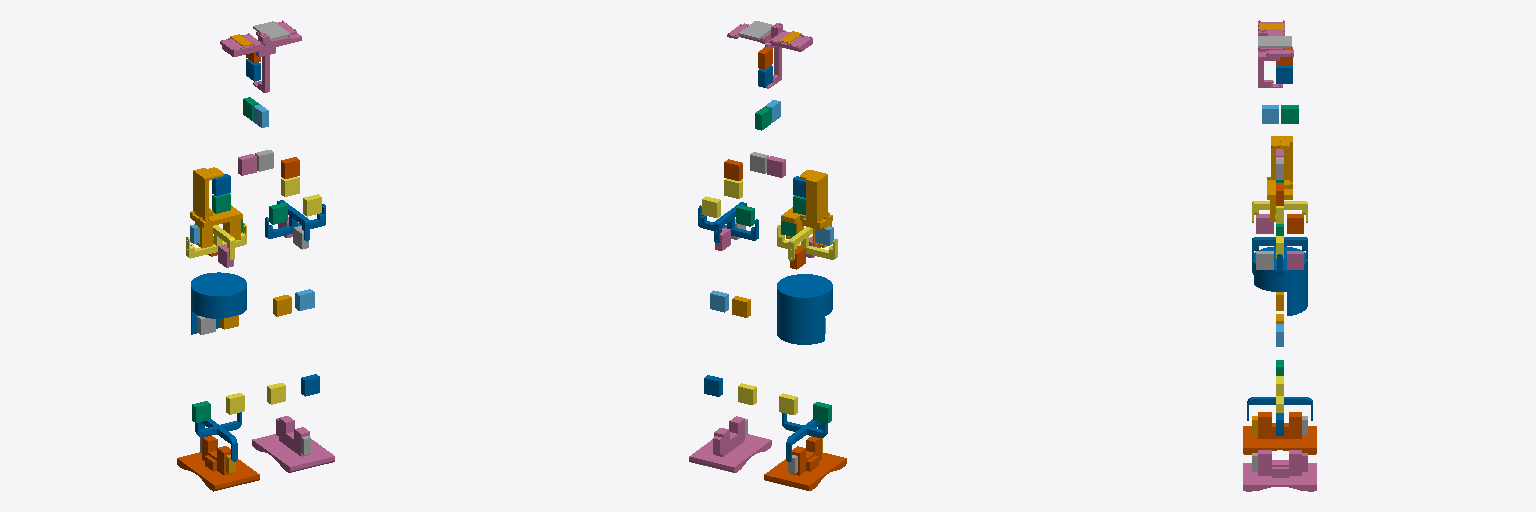
--- Render facts (derived) ---
The picture shows the robot from 3 angles, left to right: view 1: azimuth 30°, elevation 25°; view 2: azimuth 150°, elevation 25°; view 3: azimuth 270°, elevation 25°; orthographic projection.
Robot: tori — 49 links, 48 joints (15 revolute, 33 fixed); root link dummy; default pose: every joint at zero.
Links seen in each view (by area): view 1: thigh_l, foot_r, foot_l, hip_l_z_x, torso_upper, hip_r_x_y, hip_l_x_y, ankle_l; view 2: thigh_l, foot_r, foot_l, hip_l_z_x, torso_upper, hip_r_x_y, hip_l_x_y, ankle_l; view 3: foot_r, foot_l, thigh_l, hip_l_z_x, torso_upper, hip_r_x_y.
Boxes of the visible links, x1,y1,x2,y2 form: thigh_l: [191, 272, 246, 334]; foot_r: [252, 416, 334, 472]; foot_l: [177, 436, 259, 491]; hip_l_z_x: [190, 167, 242, 248]; torso_upper: [220, 20, 301, 92]; hip_r_x_y: [265, 200, 325, 241]; hip_l_x_y: [186, 223, 246, 259]; ankle_l: [195, 412, 241, 461]; thigh_l: [777, 274, 832, 344]; foot_r: [689, 416, 771, 472]; foot_l: [764, 436, 846, 490]; hip_l_z_x: [781, 170, 832, 247]; torso_upper: [727, 23, 812, 88]; hip_r_x_y: [698, 202, 758, 242]; hip_l_x_y: [777, 225, 837, 260]; ankle_l: [782, 413, 827, 461]; foot_r: [1243, 450, 1316, 491]; foot_l: [1243, 412, 1316, 454]; thigh_l: [1252, 246, 1307, 315]; hip_l_z_x: [1267, 136, 1292, 221]; torso_upper: [1258, 20, 1293, 87]; hip_r_x_y: [1252, 237, 1307, 273].
Size in the robot's own frame: 0.3638 by 0.1735 by 1.1 metres.
40 mesh visuals loaded from 19 distinct referenced files (11 binary STL); not drawn: 8 (reference not matched to a file when rendering).

robot.urdf — tori:
<?xml version="1.0" ?>
<!-- =================================================================================== -->
<!-- |    This document was autogenerated by xacro from [local-path]/catkin_ws/src/tori/tori_description/urdf/tori_robot.urdf.xacro | -->
<!-- |    EDITING THIS FILE BY HAND IS NOT RECOMMENDED                                 | -->
<!-- =================================================================================== -->
<robot name="tori">
  <gazebo>
    <plugin filename="libgazebo_ros_control.so" name="ros_control">
      <!--robotNamespace>/</robotNamespace-->
      <!--robotSimType>gazebo_ros_control/DefaultRobotHWSim</robotSimType-->
    </plugin>
    <!--
    <plugin name="gazebo_ros_power_monitor_controller" filename="libgazebo_ros_power_monitor.so">
      <alwaysOn>true</alwaysOn>
      <updateRate>1.0</updateRate>
      <timeout>5</timeout>
      <powerStateTopic>power_state</powerStateTopic>
      <powerStateRate>10.0</powerStateRate>
      <fullChargeCapacity>87.78</fullChargeCapacity>     
      <dischargeRate>-474</dischargeRate>
      <chargeRate>525</chargeRate>
      <dischargeVoltage>15.52</dischargeVoltage>
      <chargeVoltage>16.41</chargeVoltage>
    </plugin>
-->
  </gazebo>
  <plugin filename="libRealSensePlugin.so" name="rs"/>
  <!-- camera_l -->
  <!--
  <gazebo reference="camera_l_link">
    <sensor type="camera" name="camera_l">
      <update_rate>3.0</update_rate>
      <camera name="cam_l">
        <horizontal_fov>1.3962634</horizontal_fov>
        <image>
          <width>800</width>
          <height>800</height>
          <format>R8G8B8</format>
        </image>
        <clip>
          <near>0.02</near>
          <far>300</far>
        </clip>
        <noise>
          <type>gaussian</type>

          <mean>0.0</mean>
          <stddev>0.007</stddev>
        </noise>
      </camera>
      <plugin name="camera_controller" filename="libgazebo_ros_camera.so">
        <alwaysOn>true</alwaysOn>
        <updateRate>0.0</updateRate>
        <cameraName>camera_l</cameraName>
        <imageTopicName>image_raw</imageTopicName>
        <cameraInfoTopicName>camera_info</cameraInfoTopicName>
        <frameName>camera_l_link</frameName>
        <hackBaseline>0.07</hackBaseline>
        <distortionK1>0.0</distortionK1>
        <distortionK2>0.0</distortionK2>
        <distortionK3>0.0</distortionK3>
        <distortionT1>0.0</distortionT1>
        <distortionT2>0.0</distortionT2>
      </plugin>
    </sensor>
  </gazebo>



  <gazebo reference="camera_r_link">
    <sensor type="camera" name="camera_r">
      <update_rate>3.0</update_rate>
      <camera name="cam_r">
        <horizontal_fov>1.3962634</horizontal_fov>
        <image>
          <width>800</width>
          <height>800</height>
          <format>R8G8B8</format>
        </image>
        <clip>
          <near>0.02</near>
          <far>300</far>
        </clip>
        <noise>
          <type>gaussian</type>

          <mean>0.0</mean>
          <stddev>0.007</stddev>
        </noise>
      </camera>
      <plugin name="camera_controller" filename="libgazebo_ros_camera.so">
        <alwaysOn>true</alwaysOn>
        <updateRate>0.0</updateRate>
        <cameraName>camera_r</cameraName>
        <imageTopicName>image_raw</imageTopicName>
        <cameraInfoTopicName>camera_info</cameraInfoTopicName>
        <frameName>camera_r_link</frameName>
        <hackBaseline>0.07</hackBaseline>
        <distortionK1>0.0</distortionK1>
        <distortionK2>0.0</distortionK2>
        <distortionK3>0.0</distortionK3>
        <distortionT1>0.0</distortionT1>
        <distortionT2>0.0</distortionT2>
      </plugin>
    </sensor>
  </gazebo>-->
  <!--
  <plugin name="camera_plugin" filename="libgazebo_ros_openni_kinect.so">
    <baseline>0.2</baseline>
    <alwaysOn>true</alwaysOn>

    <updateRate>0.0</updateRate>
    <cameraName>camera_ir</cameraName>
    <imageTopicName>/camera/color/image_raw</imageTopicName>
    <cameraInfoTopicName>/camera/color/camera_info</cameraInfoTopicName>
    <depthImageTopicName>/camera/depth/image_raw</depthImageTopicName>
    <depthImageCameraInfoTopicName>/camera/depth/camera_info</depthImageCameraInfoTopicName>
    <pointCloudTopicName>/camera/depth/points</pointCloudTopicName>
    <frameName>camera_l_link</frameName>
    <pointCloudCutoff>0.5</pointCloudCutoff>
    <pointCloudCutoffMax>3.0</pointCloudCutoffMax>
    <distortionK1>0</distortionK1>
    <distortionK2>0</distortionK2>
    <distortionK3>0</distortionK3>
    <distortionT1>0</distortionT1>
    <distortionT2>0</distortionT2>
    <CxPrime>0</CxPrime>
    <Cx>0</Cx>
    <Cy>0</Cy>
    <focalLength>0</focalLength>
    <hackBaseline>0</hackBaseline>
  </plugin>
-->
  <!-- stereo plugin that produces a raw_stereo message
  -->
  <!--
  <map name="sensor" flag="gazebo">
    <verbatim key="camera_controller">
      <controller:ros_stereo_camera name="camera_controller" plugin="libros_stereo_camera.so">
        <alwaysOn>true</alwaysOn>
        <updateRate>20.0</updateRate>
        <leftCamera>camera_l_link</leftCamera>
        <rightCamera>camera_r_link</rightCamera>
        <topicName>${name}/raw_stereo</topicName>
        <frameName>${name}_optical_frame</frameName>
        <CxPrime>320</CxPrime>
        <Cx>320</Cx>
        <Cy>240</Cy>
        <focal_length>320</focal_length> -->
  <!-- image_width / (2*tan(hfov_radian /2)) -->
  <!--<distortion_k1>0</distortion_k1>
        <distortion_k2>0</distortion_k2>
        <distortion_k3>0</distortion_k3>
        <distortion_t1>0</distortion_t1>
        <distortion_t2>0</distortion_t2>
        <baseline>${stereo_dy}</baseline>-->
  <!-- home pos. of robot has +x forward, +y left -->
  <!--<interface:stereocamera name="${name}_iface" />
      </controller:ros_stereo_camera>
    </verbatim>
  </map>-->
  <!-- Probably needed!<xacro:include filename="$(find tori_description)/urdf/realsense_camera/model.sdf" />-->
  <!--NEEDED! <xacro:include filename="$(find realsense2_description)/urdf/_d415.urdf.xacro"/>-->
  <!--<xacro:macro name="rs_cam_stuff" params="parent">
    <link name="cam_link">
      <gazebo reference="sensor_d415_link"/>
    </link>
    <joint name="cam_joint" type="fixed">
      <parent link="${parent}"/>
      <child link="sensor_d415_link"/>
      <origin xyz="0 0 1.5"/>
    </joint>
  </xacro:macro>-->
  <!--<xacro:macro name="rs_model_stuff" params="">
    <link name="rs_model_link">
      <gazebo reference="realsense_camera"/>
    </link>
    <joint name="rs_model_joint">
      <parent link="torso_upper"/>
      <child link="rs_model_link"/>
      <origin xyz="0 0 1.5"/>
    </joint>
  </xacro:macro>-->
  <!--<gazebo reference="torso_upper"> this -->
  <!--<sensor type="depth" name="camera1">-->
  <!--<plugin name="gazebo_realsense" filename="libRealSensePlugin.so">
        <robotNamespace>/</robotNamespace>
      </plugin>-->
  <!-- from here<plugin name="realsense_gazebo_plugin" filename="realsense_gazebo_plugin.so">
        <robotNamespace>/</robotNamespace>
      </plugin> to here-->
  <!--</sensor>-->
  <!--</gazebo> this-->
  <!-- -.18 -->
  <!--.1-->
  <!-- ~7.0V-->
  <!--<link name="world"/>
     <joint name="world_joint" type="fixed">
       <parent link="world"/>
       <child link="dummy"/>
     </joint>-->
  <link name="dummy">
   </link>
  <link name="pelvis">
    <!-- formerly base_link-->
    <visual>
      <origin rpy="0 0 0" xyz="0 0 0"/>
      <geometry>
        <mesh filename="package://tori_description/meshes/pelvis.stl" scale=".001 .001 .001"/>
      </geometry>
      <material name="LightGrey">
        <color rgba="0.7 0.7 0.7 1.0"/>
      </material>
    </visual>
    <collision>
      <origin rpy="0 0 0" xyz="0 0 0"/>
      <geometry>
        <mesh filename="package://tori_description/meshes/pelvis.stl" scale=".001 .001 .001"/>
        --&gt;
        
      </geometry>
    </collision>
    <inertial>
      <origin rpy="0 0 0" xyz="-.000062107 -.002467480 .000540235"/>
      <mass value="0.186"/>
      <inertia ixx="0.000231550208" ixy="3.199811875e-07" ixz="-3.6778775e-07" iyy="0.000993170496" iyz="2.7907164e-05" izz="0.000822"/>
    </inertial>
  </link>
  <joint name="hip_r_z_servo_0_joint" type="fixed">
    <parent link="pelvis"/>
    <child link="hip_r_z_servo_0"/>
    <origin rpy="0 0 1.5707963267948966" xyz="-.091 0 -.027"/>
  </joint>
  <link name="hip_r_z_servo_0">
    <visual>
      <origin rpy="0 0 0" xyz="0 0 0"/>
      <geometry>
        <mesh filename="package://tori_description/meshes/servo.stl" scale=".001 .001 .001"/>
      </geometry>
      <material name="Black"/>
      <color rgba="0.0 0.0 0.0 0.0"/>
    </visual>
    <collision>
      <origin rpy="0 0 0" xyz="0 0 0"/>
      <geometry>
        <mesh filename="package://tori_description/meshes/servo.stl" scale=".001 .001 .001"/>
        --&gt;
        
      </geometry>
    </collision>
    <inertial>
      <origin rpy="0 0 0" xyz="0 0 0"/>
      <mass value="0.07"/>
      <inertia ixx="8.106666e-06" ixy="0.0" ixz="0.0" iyy="4.967866e-06" iyz="0.0" izz="4.967866e-06"/>
    </inertial>
  </link>
  <joint name="hip_r_z_servo_1_joint" type="fixed">
    <!--TODO: Technically wrong leg, but it shouldn't actually matter (also check other hip_z servos)-->
    <parent link="pelvis"/>
    <child link="hip_r_z_servo_1"/>
    <origin rpy="0 0 1.5707963267948966" xyz=".091 0 -.027"/>
  </joint>
  <link name="hip_r_z_servo_1">
    <visual>
      <origin rpy="0 0 0" xyz="0 0 0"/>
      <geometry>
        <mesh filename="package://tori_description/meshes/servo.stl" scale=".001 .001 .001"/>
      </geometry>
      <material name="Black"/>
      <color rgba="0.0 0.0 0.0 0.0"/>
    </visual>
    <collision>
      <origin rpy="0 0 0" xyz="0 0 0"/>
      <geometry>
        <mesh filename="package://tori_description/meshes/servo.stl" scale=".001 .001 .001"/>
        --&gt;
        
      </geometry>
    </collision>
    <inertial>
      <origin rpy="0 0 0" xyz="0 0 0"/>
      <mass value="0.07"/>
      <inertia ixx="8.106666e-06" ixy="0.0" ixz="0.0" iyy="4.967866e-06" iyz="0.0" izz="4.967866e-06"/>
    </inertial>
  </link>
  <joint name="hip_l_z_servo_0_joint" type="fixed">
    <parent link="pelvis"/>
    <child link="hip_l_z_servo_0"/>
    <origin rpy="0 0 1.5707963267948966" xyz="-.091 0 .018"/>
  </joint>
  <link name="hip_l_z_servo_0">
    <visual>
      <origin rpy="0 0 0" xyz="0 0 0"/>
      <geometry>
        <mesh filename="package://tori_description/meshes/servo.stl" scale=".001 .001 .001"/>
      </geometry>
      <material name="Black"/>
      <color rgba="0.0 0.0 0.0 0.0"/>
    </visual>
    <collision>
      <origin rpy="0 0 0" xyz="0 0 0"/>
      <geometry>
        <mesh filename="package://tori_description/meshes/servo.stl" scale=".001 .001 .001"/>
        --&gt;
        
      </geometry>
    </collision>
    <inertial>
      <origin rpy="0 0 0" xyz="0 0 0"/>
      <mass value="0.07"/>
      <inertia ixx="8.106666e-06" ixy="0.0" ixz="0.0" iyy="4.967866e-06" iyz="0.0" izz="4.967866e-06"/>
    </inertial>
  </link>
  <joint name="hip_l_z_servo_1_joint" type="fixed">
    <parent link="pelvis"/>
    <child link="hip_l_z_servo_1"/>
    <origin rpy="0 0 1.5707963267948966" xyz=".091 0 .018"/>
  </joint>
  <link name="hip_l_z_servo_1">
    <visual>
      <origin rpy="0 0 0" xyz="0 0 0"/>
      <geometry>
        <mesh filename="package://tori_description/meshes/servo.stl" scale=".001 .001 .001"/>
      </geometry>
      <material name="Black"/>
      <color rgba="0.0 0.0 0.0 0.0"/>
    </visual>
    <collision>
      <origin rpy="0 0 0" xyz="0 0 0"/>
      <geometry>
        <mesh filename="package://tori_description/meshes/servo.stl" scale=".001 .001 .001"/>
        --&gt;
        
      </geometry>
    </collision>
    <inertial>
      <origin rpy="0 0 0" xyz="0 0 0"/>
      <mass value="0.07"/>
      <inertia ixx="8.106666e-06" ixy="0.0" ixz="0.0" iyy="4.967866e-06" iyz="0.0" izz="4.967866e-06"/>
    </inertial>
  </link>
  <joint name="spine_x_servo_0_joint" type="fixed">
    <parent link="pelvis"/>
    <child link="spine_x_servo_0"/>
    <origin rpy="0 0 1.5707963267948966" xyz="-.023 0 .053"/>
  </joint>
  <link name="spine_x_servo_0">
    <visual>
      <origin rpy="0 0 0" xyz="0 0 0"/>
      <geometry>
        <mesh filename="package://tori_description/meshes/servo.stl" scale=".001 .001 .001"/>
      </geometry>
      <material name="Black"/>
      <color rgba="0.0 0.0 0.0 0.0"/>
    </visual>
    <collision>
      <origin rpy="0 0 0" xyz="0 0 0"/>
      <geometry>
        <mesh filename="package://tori_description/meshes/servo.stl" scale=".001 .001 .001"/>
        --&gt;
        
      </geometry>
    </collision>
    <inertial>
      <origin rpy="0 0 0" xyz="0 0 0"/>
      <mass value="0.068"/>
      <inertia ixx="8.106666e-06" ixy="0.0" ixz="0.0" iyy="4.967866e-06" iyz="0.0" izz="4.967866e-06"/>
    </inertial>
  </link>
  <joint name="spine_x_servo_1_joint" type="fixed">
    <parent link="pelvis"/>
    <child link="spine_x_servo_1"/>
    <origin rpy="0 0 1.5707963267948966" xyz=".023 0 .053"/>
  </joint>
  <link name="spine_x_servo_1">
    <collision>
      <origin rpy="0 0 0" xyz="0 0 0"/>
      <geometry>
        <mesh filename="package://tori_description/meshes/servo.stl" scale=".001 .001 .001"/>
        --&gt;
        
      </geometry>
    </collision>
    <visual>
      <origin rpy="0 0 0" xyz="0 0 0"/>
      <geometry>
        <mesh filename="package://tori_description/meshes/servo.stl" scale=".001 .001 .001"/>
      </geometry>
      <material name="Black"/>
      <color rgba="0.0 0.0 0.0 0.0"/>
    </visual>
    <inertial>
      <origin rpy="0 0 0" xyz="0 0 0"/>
      <mass value="0.068"/>
      <inertia ixx="8.106666e-06" ixy="0.0" ixz="0.0" iyy="4.967866e-06" iyz="0.0" izz="4.967866e-06"/>
    </inertial>
  </link>
  <!--<xacro:rs_cam_stuff parent="torso_upper"/>-->
  <!--from here <xacro:sensor_d415 parent="torso_upper" name="camera">
      <origin xyz="0 0 .2" rpy="0 0 ${PI/2}"/>

    </xacro:sensor_d415> to here-->
  <!--<xacro:r parent="torso_upper">
      <origin xyz="0 0 .2" rpy="0 0 ${PI/2}"/>
    </xacro:sensor_d415>-->
  <!--name=camera  use_nominal_extrinsics:=false/>-->
  <!-- KINECT -->
  <!--
    <joint name="kinect_joint" type="fixed">
      <parent link="torso_upper"/>
      <child link="kinect_link"/>
      <origin xyz="0 0 .2" />
    </joint>
    <link name="kinect_link">
      <visual>
        <geometry>
          <box size="0.064 0.121 0.0381" />
        </geometry>
        <material name="Blue" />
      </visual>
      <inertial>
          <mass value="0.1" />
          <origin xyz="0 0 0" />
          <inertia ixx="0.01" ixy="0.0" ixz="0.0"
                   iyy="0.01" iyz="0.0"
                   izz="0.01" />
      </inertial>
    </link>

    <joint name="kinect_depth_joint" type="fixed">
      <origin xyz="0 0.028 0" rpy="0 0 0" />
      <parent link="kinect_link" />
      <child link="kinect_depth_frame" />
    </joint>

    <link name="kinect_depth_frame">
      <inertial>
          <mass value="0.0001" />
          <origin xyz="0 0 0" />
          <inertia ixx="0.0001" ixy="0.0" ixz="0.0"
                   iyy="0.0001" iyz="0.0"
                   izz="0.0001" />
      </inertial>
    </link>

    <joint name="depth_optical_joint" type="fixed">
      <origin xyz="0 0 0" rpy="${-PI/2} 0 ${-PI/2}" />
      <parent link="kinect_depth_frame" />
      <child link="kinect_depth_optical_frame" />
    </joint>

    <link name="kinect_depth_optical_frame">
      <inertial>
          <mass value="0.0001" />
          <origin xyz="0 0 0" />
          <inertia ixx="0.0001" ixy="0.0" ixz="0.0"
                   iyy="0.0001" iyz="0.0"
                   izz="0.0001" />
      </inertial>
    </link>  -->
  <!-- TORSO -->
  <joint name="dummy_joint" type="fixed">
    <parent link="dummy"/>
    <child link="pelvis"/>
    <origin rpy="0 0 0" xyz="0 0 0.7300000000000001"/>
    <!--<origin xyz="0 0 0" rpy="0 0 0"/>-->
  </joint>
  <joint name="spine_x" type="revolute">
    <parent link="pelvis"/>
    <child link="torso_lower"/>
    <origin rpy="0 0 0" xyz="0 0 .07"/>
    <axis xyz="1 0 0"/>
    <dynamics damping="0" friction="0"/>
    <limit effort="3.92" lower="-0.22" upper="0.22" velocity="1.97"/>
  </joint>
  <link name="torso_lower">
    <visual>
      <origin rpy="0 0 0" xyz="0 0 0"/>
      <geometry>
        <mesh filename="package://tori_description/meshes/spine_0.stl" scale=".001 .001 .001"/>
      </geometry>
      <material name="Black"/>
      <color rgba="0.0 0.0 0.0 0.0"/>
    </visual>
    <collision>
      <origin rpy="0 0 0" xyz="0 0 0"/>
      <geometry>
        <mesh filename="package://tori_description/meshes/spine_0.stl" scale=".001 .001 .001"/>
        --&gt;
        
      </geometry>
    </collision>
    <inertial>
      <origin rpy="0 0 0" xyz="-.003544949 -.000000002 .071470787"/>
      <mass value="0.084"/>
      <inertia ixx="0.000124387136" ixy="1.646853e-12" ixz="1.1473532e-05" iyy="0.000166922096" iyz="-1.89582e-11" izz="8.310168e-05"/>
    </inertial>
  </link>
  <joint name="spine_y_servo_0_joint" type="fixed">
    <parent link="torso_lower"/>
    <child link="spine_y_servo_0"/>
    <origin rpy="0 0 0" xyz="0 -.023 .110"/>
  </joint>
  <link name="spine_y_servo_0">
    <visual>
      <origin rpy="0 0 0" xyz="0 0 0"/>
      <geometry>
        <mesh filename="package://tori_description/meshes/servo.stl" scale=".001 .001 .001"/>
      </geometry>
      <material name="Black"/>
      <color rgba="0.0 0.0 0.0 0.0"/>
    </visual>
    <collision>
      <origin rpy="0 0 0" xyz="0 0 0"/>
      <geometry>
        <mesh filename="package://tori_description/meshes/servo.stl" scale=".001 .001 .001"/>
        --&gt;
        
      </geometry>
    </collision>
    <inertial>
      <origin rpy="0 0 0" xyz="0 0 0"/>
      <mass value="0.07"/>
      <inertia ixx="8.106666e-06" ixy="0.0" ixz="0.0" iyy="4.967866e-06" iyz="0.0" izz="4.967866e-06"/>
    </inertial>
  </link>
  <joint name="spine_y_servo_1_joint" type="fixed">
    <parent link="torso_lower"/>
    <child link="spine_y_servo_1"/>
    <origin rpy="0 0 0" xyz="0 .023 .110"/>
  </joint>
  <link name="spine_y_servo_1">
    <collision>
      <origin rpy="0 0 0" xyz="0 0 0"/>
      <geometry>
        <mesh filename="package://tori_description/meshes/servo.stl" scale=".001 .001 .001"/>
        --&gt;
        
      </geometry>
    </collision>
    <visual>
      <origin rpy="0 0 0" xyz="0 0 0"/>
      <geometry>
        <mesh filename="package://tori_description/meshes/servo.stl" scale=".001 .001 .001"/>
      </geometry>
      <material name="Black"/>
      <color rgba="0.0 0.0 0.0 0.0"/>
    </visual>
    <inertial>
      <origin rpy="0 0 0" xyz="0 0 0"/>
      <mass value="0.07"/>
      <inertia ixx="8.106666e-06" ixy="0.0" ixz="0.0" iyy="4.967866e-06" iyz="0.0" izz="4.967866e-06"/>
    </inertial>
  </link>
  <joint name="spine_y" type="revolute">
    <parent link="torso_lower"/>
    <child link="torso_mid"/>
    <origin rpy="0 0 0" xyz="0 0 0.12"/>
    <axis xyz="0 1 0"/>
    <dynamics damping="0" friction="0"/>
    <limit effort="3.92" lower="-0.22" upper="0.22" velocity="1.75"/>
  </joint>
  <link name="torso_mid">
    <collision>
      <origin rpy="0 0 0" xyz="0 0 0"/>
      <geometry>
        <mesh filename="package://tori_description/meshes/spine_1.stl" scale=".001 .001 .001"/>
        --&gt;
        
      </geometry>
    </collision>
    <visual>
      <origin rpy="0 0 0" xyz="0 0 0"/>
      <geometry>
        <mesh filename="package://tori_description/meshes/spine_1.stl" scale=".001 .001 .001"/>
      </geometry>
      <material name="Black"/>
      <color rgba="0.0 0.0 0.0 0.0"/>
    </visual>
    <inertial>
      <origin rpy="0 0 0" xyz="-.006629199 .013335866 .076523689"/>
      <mass value="0.075"/>
      <inertia ixx="0.00022848204799999998" ixy="7.6979135e-06" ixz="1.2358411e-05" iyy="0.0001590548" iyz="-2.623546e-05" izz="8.7150248e-05"/>
    </inertial>
  </link>
  <joint name="spine_z_servo_0_joint" type="fixed">
    <parent link="torso_mid"/>
    <child link="spine_z_servo_0"/>
    <origin rpy="0 0 0" xyz="0 .011 .094"/>
  </joint>
  <link name="spine_z_servo_0">
    <visual>
      <origin rpy="0 0 0" xyz="0 0 0"/>
      <geometry>
        <mesh filename="package://tori_description/meshes/servo.stl" scale=".001 .001 .001"/>
      </geometry>
      <material name="Black"/>
      <color rgba="0.0 0.0 0.0 0.0"/>
    </visual>
    <collision>
      <origin rpy="0 0 0" xyz="0 0 0"/>
      <geometry>
        <mesh filename="package://tori_description/meshes/servo.stl" scale=".001 .001 .001"/>
        --&gt;
        
      </geometry>
    </collision>
    <inertial>
      <origin rpy="0 0 0" xyz="0 0 0"/>
      <mass value="0.068"/>
      <inertia ixx="8.106666e-06" ixy="0.0" ixz="0.0" iyy="4.967866e-06" iyz="0.0" izz="4.967866e-06"/>
    </inertial>
  </link>
  <joint name="spine_z_servo_1_joint" type="fixed">
    <parent link="torso_mid"/>
    <child link="spine_z_servo_1"/>
    <origin rpy="0 0 0" xyz="0 .011 .140"/>
  </joint>
  <link name="spine_z_servo_1">
    <visual>
      <origin rpy="0 0 0" xyz="0 0 0"/>
      <geometry>
        <mesh filename="package://tori_description/meshes/servo.stl" scale=".001 .001 .001"/>
      </geometry>
      <material name="Black"/>
      <color rgba="0.0 0.0 0.0 0.0"/>
    </visual>
    <collision>
      <origin rpy="0 0 0" xyz="0 0 0"/>
      <geometry>
        <mesh filename="package://tori_description/meshes/servo.stl" scale=".001 .001 .001"/>
        --&gt;
        
      </geometry>
    </collision>
    <inertial>
      <origin rpy="0 0 0" xyz="0 0 0"/>
      <mass value="0.068"/>
      <inertia ixx="8.106666e-06" ixy="0.0" ixz="0.0" iyy="4.967866e-06" iyz="0.0" izz="4.967866e-06"/>
    </inertial>
  </link>
  <joint name="spine_z" type="revolute">
    <parent link="torso_mid"/>
    <child link="torso_upper"/>
    <origin rpy="0 0 0" xyz="0 0 0.116"/>
    <axis xyz="0 0 1"/>
    <dynamics damping="0" friction="0"/>
    <limit effort="3.92" lower="-0.22" upper="0.22" velocity="1.97"/>
  </joint>
  <link name="torso_upper">
    <visual>
      <origin rpy="0 0 0" xyz="0 0 0"/>
      <geometry>
        <mesh filename="package://tori_description/meshes/spine_2.stl" scale=".001 .001 .001"/>
      </geometry>
      <material name="Black"/>
      <color rgba="0.0 0.0 0.0 0.0"/>
    </visual>
    <collision>
      <origin rpy="0 0 0" xyz="0 0 0"/>
      <geometry>
        <mesh filename="package://tori_description/meshes/spine_2.stl" scale=".001 .001 .001"/>
        --&gt;
        
      </geometry>
    </collision>
    <inertial>
      <origin rpy="0 0 0" xyz=".001071245 -.026289972 .053334553"/>
      <mass value="0.125"/>
      <inertia ixx="0.000225709312" ixy="-1.6628644e-05" ixz="-1.4617055e-06" iyy="0.000609968576" iyz="-2.6089856e-05" izz="0.00051601312"/>
    </inertial>
  </link>
  <joint name="rpi_joint" type="fixed">
    <parent link="torso_upper"/>
    <child link="rpi"/>
    <origin rpy="1.5707963267948966 0 1.5707963267948966" xyz=".035 -.012 .077"/>
  </joint>
  <link name="rpi">
    <visual>
      <origin rpy="0 0 0" xyz="0 0 0"/>
      <geometry>
        <mesh filename="package://tori_description/meshes/rpi.stl" scale=".001 .001 .001"/>
      </geometry>
      <material name="Black"/>
      <color rgba="0.0 0.0 0.0 0.0"/>
    </visual>
    <collision>
      <origin rpy="0 0 0" xyz="0 0 0"/>
      <geometry>
        <mesh filename="package://tori_description/meshes/rpi.stl" scale=".001 .001 .001"/>
        --&gt;
        
      </geometry>
    </collision>
    <inertial>
      <origin rpy="0 0 0" xyz="0 0 0"/>
      <mass value="0.002"/>
      <inertia ixx="5.5916665e-06" ixy="0.0" ixz="0.0" iyy="1.7279166e-05" iyz="0.0" izz="1.1779167e-05"/>
    </inertial>
  </link>
  <joint name="pca_joint" type="fixed">
    <parent link="torso_upper"/>
    <child link="pca"/>
    <origin rpy="1.5707963267948966 0 1.5707963267948966" xyz="-.050 -.020 .076"/>
  </joint>
  <link name="pca">
    <visual>
      <origin rpy="0 0 0" xyz="0 0 0"/>
      <geometry>
        <mesh filename="package://tori_description/meshes/pca.stl" scale=".001 .001 .001"/>
      </geometry>
      <material name="Black"/>
      <color rgba="0.0 0.0 0.0 0.0"/>
    </visual>
    <collision>
      <origin rpy="0 0 0" xyz="0 0 0"/>
      <geometry>
        <mesh filename="package://tori_description/meshes/pca.stl" scale=".001 .001 .001"/>
        --&gt;
          
      </geometry>
    </collision>
    <inertial>
      <origin rpy="0 0 0" xyz="0 0 0"/>
      <mass value="0.011"/>
      <inertia ixx="1.5725e-07" ixy="0.0" ixz="0.0" iyy="1.05625e-06" iyz="0.0" izz="9.01e-07"/>
    </inertial>
  </link>
  <!-- LEFT ARM -->
  <!--
        <joint name="${prefix}shoulder_l_x" type="revolute">
          <parent link="${prefix}torso_upper" />
          <child link = "${prefix}shoulder_l0" />
          <origin xyz="${-width_torso_upper/2} 0 ${height_torso_upper - height_arm/2}" rpy="0 0 0"/>
          <axis xyz="1 0 0"/>
          <dynamics damping="${damping}" friction="${friction}"/>
          <limit lower="${lower_limit_shoulder_x}" upper="${upper_limit_shoulder_x}" effort="${effort_shoulder_x}" velocity="3"/>
        </joint>
        <link name="${prefix}shoulder_l0">
          <collision>
            <origin xyz="${-height_placeholder/2 - width_gap_shoulder_0} 0 0" rpy="0 ${-PI/2} 0"/>
            <geometry>
              <cylinder length="${height_placeholder}" radius="${radius_placeholder}"/>
            </geometry>
          </collision>
          <visual>
            <origin xyz="${-height_placeholder/2 - width_gap_shoulder_0} 0 0" rpy="0 ${-PI/2} 0"/>
            <geometry>
              <cylinder length="${height_placeholder}" radius="${radius_placeholder}"/>
            </geometry>
            <material name="Black"/>
              <color rgba="${Black}"/>
          </visual>
        <xacro:box_inertial height="${height_placeholder}" width="${radius_placeholder*2}" depth="${radius_placeholder*2}" mass="${mass_placeholder}" pos="${-height_placeholder/2 - width_gap_shoulder_0} 0 0" ang="0 ${-PI/2} 0">
        </xacro:box_inertial>
        </link>

        <joint name="${prefix}shoulder_l_y" type="revolute">
          <parent link="${prefix}shoulder_l0" />
          <child link = "${prefix}shoulder_l1" />
          <origin xyz="${-height_placeholder - width_gap_shoulder_0} 0 0" rpy="0 0 0"/>
          <axis xyz="0 1 0"/>
          <dynamics damping="${damping}" friction="${friction}"/>
          <limit lower="${lower_limit_shoulder_y}" upper="${upper_limit_shoulder_y}" effort="${effort_shoulder_y}" velocity="3"/>
        </joint>
        <link name="${prefix}shoulder_l1">
          <collision>
            <origin xyz="${-height_placeholder/2 - width_gap_shoulder_1} 0 0" rpy="0 ${-PI/2} 0"/>
            <geometry>
              <cylinder length="${height_placeholder}" radius="${radius_placeholder}"/>
            </geometry>
          </collision>
          <visual>
            <origin xyz="${-height_placeholder/2 - width_gap_shoulder_1} 0 0" rpy="0 ${-PI/2} 0"/>
            <geometry>
              <cylinder length="${height_placeholder}" radius="${radius_placeholder}"/>
            </geometry>
            <material name="Black"/>
              <color rgba="${Black}"/>
          </visual>
        <xacro:box_inertial height="${height_placeholder}" width="${radius_placeholder*2}" depth="${radius_placeholder*2}" mass="${mass_placeholder}" pos="${-height_placeholder/2 - width_gap_shoulder_1} 0 0" ang="0 ${-PI/2} 0">
        </xacro:box_inertial>
        </link>

        <joint name="${prefix}shoulder_l_z" type="revolute">
          <parent link="${prefix}shoulder_l1" />
          <child link = "${prefix}arm_l" />
          <origin xyz="${-height_placeholder - width_gap_shoulder_1} 0 0" rpy="0 0 0"/>
          <axis xyz="0 0 1"/>
          <dynamics damping="${damping}" friction="${friction}"/>
          <limit lower="${lower_limit_shoulder_z}" upper="${upper_limit_shoulder_z}" effort="${effort_shoulder_z}" velocity="3"/>
        </joint>

        <link name="arm_l">
          <collision>
            <origin xyz="${-width_arm/2 - width_gap_shoulder_2} 0 0" rpy="0 ${-PI/2} 0"/>
            <geometry>
              <cylinder length="${width_arm}" radius="${depth_arm/2}"/>
            </geometry>
          </collision>
          <visual>
            <origin xyz="${-width_arm/2 - width_gap_shoulder_2} 0 0" rpy="0 ${-PI/2} 0"/>
            <geometry>
              <cylinder length="${width_arm}" radius="${depth_arm/2}"/>
            </geometry>
            <material name="Black"/>
              <color rgba="${Black}"/>
          </visual>
        <xacro:box_inertial height="${width_arm}" width="${depth_arm}" depth="${depth_arm}" mass="${mass_arm}" pos="${-width_arm/2 - width_gap_shoulder_2} 0 0" ang="0 ${-PI/2} 0">
        </xacro:box_inertial>
        </link>

        <joint name="${prefix}elbow_l_z" type="revolute">
          <parent link="${prefix}arm_l" />
          <child link = "${prefix}forearm_l" />
          <origin xyz="${-width_arm - width_gap_elbow_0} 0 0" rpy="0 0 0"/>
          <axis xyz="0 0 1"/>
          <dynamics damping="${damping}" friction="${friction}"/>
          <limit lower="${lower_limit_elbow_z}" upper="${upper_limit_elbow_z}" effort="${effort_constant}" velocity="3"/>
        </joint>

        <link name="${prefix}forearm_l">
          <collision>
            <origin xyz="${-height_placeholder/2 - width_gap_elbow_0} 0 0" rpy="0 ${-PI/2} 0"/>
            <geometry>
              <cylinder length="${height_placeholder}" radius="${radius_placeholder}"/>
            </geometry>
          </collision>
          <visual>
            <origin xyz="${-height_placeholder/2 - width_gap_elbow_0} 0 0" rpy="0 ${-PI/2} 0"/>
            <geometry>
              <cylinder length="${height_placeholder}" radius="${radius_placeholder}"/>
            </geometry>
            <material name="Black"/>
              <color rgba="${Black}"/>
          </visual>
        <xacro:box_inertial height="${height_placeholder}" width="${radius_placeholder*2}" depth="${radius_placeholder*2}" mass="${mass_placeholder}" pos="${-height_placeholder/2 - width_gap_elbow_0} 0 0" ang="0 ${-PI/2} 0">
        </xacro:box_inertial>


        </link>

        <joint name="${prefix}elbow_l_x" type="revolute">
          <parent link="${prefix}forearm_l" />
          <child link = "${prefix}wrist_l0" />
          <origin xyz="${-height_placeholder - width_gap_elbow_0} 0 0" rpy="0 0 0"/>
          <axis xyz="1 0 0"/>
          <dynamics damping="${damping}" friction="${friction}"/>
          <limit lower="${lower_limit_elbow_x}" upper="${upper_limit_elbow_x}" effort="${effort_constant}" velocity="3"/>
        </joint>

        <link name="${prefix}wrist_l0">
          <collision>
            <origin xyz="${-width_forearm/2 - width_gap_elbow_1} 0 0" rpy="0 ${-PI/2} 0"/>
            <geometry>
              <cylinder length="${width_forearm}" radius="${depth_forearm/2}"/>
            </geometry>
          </collision>
          <visual>
            <origin xyz="${-width_forearm/2 - width_gap_elbow_1} 0 0" rpy="0 ${-PI/2} 0"/>
            <geometry>
              <cylinder length="${width_forearm}" radius="${depth_forearm/2}"/>
            </geometry>
            <material name="Black"/>
              <color rgba="${Black}"/>
          </visual>

        <xacro:box_inertial height="${width_forearm}" width="${depth_forearm}" depth="${depth_forearm}" mass="${mass_forearm}" pos="${-width_forearm/2 - width_gap_elbow_1} 0 0" ang="0 ${-PI/2} 0">
        </xacro:box_inertial>

        </link>

        <joint name="${prefix}wrist_l_z" type="revolute">
          <parent link="${prefix}wrist_l0" />
          <child link = "${prefix}wrist_l1" />
          <origin xyz="${-width_forearm - width_gap_wrist_0} 0 0" rpy="0 0 0"/>
          <axis xyz="0 0 1"/>
          <dynamics damping="${damping}" friction="${friction}"/>
          <limit lower="${lower_limit_wrist_z}" upper="${upper_limit_wrist_z}" effort="${effort_wrist_z}" velocity="3"/>
        </joint>

        <link name="${prefix}wrist_l1">
          <collision>
            <origin xyz="${-height_placeholder/2 - width_gap_wrist_0} 0 0" rpy="0 ${-PI/2} 0"/>
            <geometry>
              <cylinder length="${height_placeholder}" radius="${radius_placeholder}"/>
            </geometry>
          </collision>
          <visual>
            <origin xyz="${-height_placeholder/2 - width_gap_wrist_0} 0 0" rpy="0 ${-PI/2} 0"/>
            <geometry>
              <cylinder length="${height_placeholder}" radius="${radius_placeholder}"/>
            </geometry>
            <material name="Black"/>
              <color rgba="${Black}"/>
          </visual>
        <xacro:box_inertial height="${height_placeholder}" width="${radius_placeholder*2}" depth="${radius_placeholder*2}" mass="${mass_placeholder}" pos="${-height_placeholder/2 - width_gap_elbow_0} 0 0" ang="0 ${-PI/2} 0">
        </xacro:box_inertial>
        </link>

        <joint name="${prefix}wrist_l_y" type="revolute">
          <parent link="${prefix}wrist_l1" />
          <child link = "${prefix}hand_l" />
          <origin xyz="${-height_placeholder - width_gap_wrist_0} 0 0" rpy="0 0 0"/>
          <axis xyz="0 1 0"/>
          <dynamics damping="${damping}" friction="${friction}"/>
          <limit lower="${lower_limit_wrist_y}" upper="${upper_limit_wrist_y}" effort="${effort_wrist_y}" velocity="3"/>
        </joint>

        <link name="${prefix}hand_l">
        <collision>
          <origin xyz="${-width_palm/2 - width_gap_wrist_0} 0 0" rpy="0 0 0"/>
          <geometry>
    \t<box size="${width_palm} ${depth_palm} ${height_palm}"/>
          </geometry>
        </collision>
        <visual>
          <origin xyz="${-width_palm/2 - width_gap_wrist_0} 0 0" rpy="0 0 0"/>
          <geometry>
    \t<box size="${width_palm} ${depth_palm} ${height_palm}"/>
          </geometry>
          <material name="Black"/>
              <color rgba="${Black}"/>
        </visual>
          <xacro:box_inertial height="${height_palm}" width="${width_palm}" depth="${depth_palm}" mass="${mass_hand}" pos="${-width_palm/2 - width_gap_wrist_0} 0 0" ang="0 0 0">
          </xacro:box_inertial>
        </link>-->
  <!-- RIGHT ARM -->
  <!--
        <joint name="${prefix}shoulder_r_x" type="revolute">
          <parent link="${prefix}torso_upper" />
          <child link = "${prefix}shoulder_r0" />
          <origin xyz="${width_torso_upper/2} 0 ${height_torso_upper - height_arm/2}" rpy="0 0 0"/>
          <axis xyz="1 0 0"/>
          <dynamics damping="${damping}" friction="${friction}"/>
          <limit lower="${lower_limit_shoulder_x}" upper="${upper_limit_shoulder_x}" effort="${effort_shoulder_x}" velocity="3"/>
        </joint>
        <link name="${prefix}shoulder_r0">
          <collision>
            <origin xyz="${height_placeholder/2 + width_gap_shoulder_0} 0 0" rpy="0 ${PI/2} 0"/>
            <geometry>
              <cylinder length="${height_placeholder}" radius="${radius_placeholder}"/>
            </geometry>
          </collision>
          <visual>
            <origin xyz="${height_placeholder/2 + width_gap_shoulder_0} 0 0" rpy="0 ${PI/2} 0"/>
            <geometry>
              <cylinder length="${height_placeholder}" radius="${radius_placeholder}"/>
            </geometry>
            <material name="Black"/>
              <color rgba="${Black}"/>
          </visual>
        <xacro:box_inertial height="${height_placeholder}" width="${radius_placeholder*2}" depth="${radius_placeholder*2}" mass="${mass_placeholder}" pos="${height_placeholder/2 + width_gap_shoulder_0} 0 0" ang="0 ${PI/2} 0">
        </xacro:box_inertial>
        </link>

        <joint name="${prefix}shoulder_r_y" type="revolute">
          <parent link="${prefix}shoulder_r0" />
          <child link = "${prefix}shoulder_r1" />
          <origin xyz="${height_placeholder + width_gap_shoulder_0} 0 0" rpy="0 0 0"/>
          <axis xyz="0 1 0"/>
          <dynamics damping="${damping}" friction="${friction}"/>
          <limit lower="${lower_limit_shoulder_y}" upper="${upper_limit_shoulder_y}" effort="${effort_shoulder_y}" velocity="3"/>
        </joint>
        <link name="${prefix}shoulder_r1">
          <collision>
            <origin xyz="${height_placeholder/2 + width_gap_shoulder_1} 0 0" rpy="0 ${PI/2} 0"/>
            <geometry>
              <cylinder length="${height_placeholder}" radius="${radius_placeholder}"/>
            </geometry>
          </collision>
          <visual>
            <origin xyz="${height_placeholder/2 + width_gap_shoulder_1} 0 0" rpy="0 ${PI/2} 0"/>
            <geometry>
              <cylinder length="${height_placeholder}" radius="${radius_placeholder}"/>
            </geometry>
            <material name="Black"/>
              <color rgba="${Black}"/>
          </visual>
        <xacro:box_inertial height="${height_placeholder}" width="${radius_placeholder*2}" depth="${radius_placeholder*2}" mass="${mass_placeholder}" pos="${height_placeholder/2 + width_gap_shoulder_1} 0 0" ang="0 ${PI/2} 0">
        </xacro:box_inertial>
        </link>

        <joint name="${prefix}shoulder_r_z" type="revolute">
          <parent link="${prefix}shoulder_r1" />
          <child link = "${prefix}arm_r" />
          <origin xyz="${height_placeholder + width_gap_shoulder_1} 0 0" rpy="0 0 0"/>
          <axis xyz="0 0 -1"/>
          <dynamics damping="${damping}" friction="${friction}"/>
          <limit lower="${lower_limit_shoulder_z}" upper="${upper_limit_shoulder_z}" effort="${effort_shoulder_z}" velocity="3"/>
        </joint>

        <link name="${prefix}arm_r">
          <collision>
            <origin xyz="${width_arm/2 + width_gap_shoulder_2} 0 0" rpy="0 ${PI/2} 0"/>
            <geometry>
              <cylinder length="${width_arm}" radius="${depth_arm/2}"/>
            </geometry>
          </collision>
          <visual>
            <origin xyz="${width_arm/2 + width_gap_shoulder_2} 0 0" rpy="0 ${PI/2} 0"/>
            <geometry>
              <cylinder length="${width_arm}" radius="${depth_arm/2}"/>
            </geometry>
            <material name="Black"/>
              <color rgba="${Black}"/>
          </visual>
        <xacro:box_inertial height="${width_arm}" width="${depth_arm}" depth="${depth_arm}" mass="${mass_arm}" pos="${width_arm/2 + width_gap_shoulder_2} 0 0" ang="0 ${PI/2} 0">
        </xacro:box_inertial>
        </link>

        <joint name="${prefix}elbow_r_z" type="revolute">
          <parent link="${prefix}arm_r" />
          <child link = "${prefix}forearm_r" />
          <origin xyz="${width_arm + width_gap_elbow_0} 0 0" rpy="0 0 0"/>
          <axis xyz="0 0 -1"/>
          <dynamics damping="${damping}" friction="${friction}"/>
          <limit lower="${lower_limit_elbow_z}" upper="${upper_limit_elbow_z}" effort="${effort_constant}" velocity="3"/>
        </joint>

        <link name="${prefix}forearm_r">
          <collision>
            <origin xyz="${height_placeholder/2 + width_gap_elbow_0} 0 0" rpy="0 ${PI/2} 0"/>
            <geometry>
              <cylinder length="${height_placeholder}" radius="${radius_placeholder}"/>
            </geometry>
          </collision>
          <visual>
            <origin xyz="${height_placeholder/2 + width_gap_elbow_0} 0 0" rpy="0 ${PI/2} 0"/>
            <geometry>
              <cylinder length="${height_placeholder}" radius="${radius_placeholder}"/>
            </geometry>
            <material name="Black"/>
              <color rgba="${Black}"/>
          </visual>
        <xacro:box_inertial height="${height_placeholder}" width="${radius_placeholder*2}" depth="${radius_placeholder*2}" mass="${mass_placeholder}" pos="${height_placeholder/2 + width_gap_elbow_0} 0 0" ang="0 ${PI/2} 0">
        </xacro:box_inertial>
        </link>

        <joint name="${prefix}elbow_r_x" type="revolute">
          <parent link="${prefix}forearm_r" />
          <child link = "${prefix}wrist_r0" />
          <origin xyz="${height_placeholder + width_gap_elbow_0} 0 0" rpy="0 0 0"/>
          <axis xyz="1 0 0"/>
          <dynamics damping="${damping}" friction="${friction}"/>
          <limit lower="${lower_limit_elbow_x}" upper="${upper_limit_elbow_x}" effort="${effort_constant}" velocity="3"/>
        </joint>

        <link name="${prefix}wrist_r0">
          <collision>
            <origin xyz="${width_forearm/2 + width_gap_elbow_1} 0 0" rpy="0 ${PI/2} 0"/>
            <geometry>
              <cylinder length="${width_forearm}" radius="${depth_forearm/2}"/>
            </geometry>
          </collision>
          <visual>
            <origin xyz="${width_forearm/2 + width_gap_elbow_1} 0 0" rpy="0 ${PI/2} 0"/>
            <geometry>
              <cylinder length="${width_forearm}" radius="${depth_forearm/2}"/>
            </geometry>
            <material name="Black"/>
              <color rgba="${Black}"/>
          </visual>
        <xacro:box_inertial height="${width_forearm}" width="${depth_forearm}" depth="${depth_forearm}" mass="${mass_forearm}" pos="${width_forearm/2 + width_gap_elbow_1} 0 0" ang="0 ${PI/2} 0">
        </xacro:box_inertial>
        </link>

        <joint name="${prefix}wrist_r_z" type="revolute">
          <parent link="${prefix}wrist_r0" />
          <child link = "${prefix}wrist_r1" />
          <origin xyz="${width_forearm + width_gap_wrist_0} 0 0" rpy="0 0 0"/>
          <axis xyz="0 0 -1"/>
          <dynamics damping="${damping}" friction="${friction}"/>
          <limit lower="${lower_limit_wrist_z}" upper="${upper_limit_wrist_z}" effort="${effort_wrist_z}" velocity="3"/>
        </joint>

        <link name="${prefix}wrist_r1">
          <collision>
            <origin xyz="${height_placeholder/2 + width_gap_wrist_0} 0 0" rpy="0 ${PI/2} 0"/>
            <geometry>
              <cylinder length="${height_placeholder}" radius="${radius_placeholder}"/>
            </geometry>
          </collision>
          <visual>
            <origin xyz="${height_placeholder/2 + width_gap_wrist_0} 0 0" rpy="0 ${PI/2} 0"/>
            <geometry>
              <cylinder length="${height_placeholder}" radius="${radius_placeholder}"/>
            </geometry>
            <material name="Black"/>
              <color rgba="${Black}"/>
          </visual>
        <xacro:box_inertial height="${height_placeholder}" width="${radius_placeholder*2}" depth="${radius_placeholder*2}" mass="${mass_placeholder}" pos="${height_placeholder/2 + width_gap_elbow_0} 0 0" ang="0 ${PI/2} 0">
        </xacro:box_inertial>
        </link>

        <joint name="${prefix}wrist_r_y" type="revolute">
          <parent link="${prefix}wrist_r1" />
          <child link = "${prefix}hand_r" />
          <origin xyz="${height_placeholder + width_gap_wrist_0} 0 0" rpy="0 0 0"/>
          <axis xyz="0 1 0"/>
          <dynamics damping="${damping}" friction="${friction}"/>
          <limit lower="${lower_limit_wrist_y}" upper="${upper_limit_wrist_y}" effort="${effort_wrist_y}" velocity="3"/>
        </joint>
        <link name="${prefix}hand_r">
        <collision>
          <origin xyz="${width_palm/2 + width_gap_wrist_0} 0 0" rpy="0 0 0"/>
          <geometry>
    \t<box size="${width_palm} ${depth_palm} ${height_palm}"/>
          </geometry>
        </collision>
        <visual>
          <origin xyz="${width_palm/2 + width_gap_wrist_0} 0 0" rpy="0 0 0"/>
          <geometry>
    \t<box size="${width_palm} ${depth_palm} ${height_palm}"/>
          </geometry>
          <material name="Black"/>
              <color rgba="${Black}"/>
        </visual>
          <xacro:box_inertial height="${height_palm}" width="${width_palm}" depth="${depth_palm}" mass="${mass_hand}" pos="${width_palm/2 + width_gap_wrist_0} 0 0" ang="0 0 0">
          </xacro:box_inertial>
        </link>-->
  <!-- index finger r-->
  <!--
        <joint name="${prefix}finger_00y_joint_r" type="revolute">
          <parent link="${prefix}hand_r" />
          <child link = "${prefix}finger_0_base_r" />
          <origin xyz="${width_palm + width_gap_wrist_0} 0 ${height_palm/4 + square_finger/2}" rpy="0 0 0"/>
          <axis xyz="0 1 0"/>
          <dynamics damping="${damping}" friction="${friction}"/>
          <limit lower="${lower_limit_finger_y}" upper="${upper_limit_finger_y}" effort="${effort_wrist_y}" velocity="3"/>
        </joint>
        <link name="${prefix}finger_0_base_r">
          <collision>
            <origin xyz="${length_finger_base/2 + gap_finger_base} 0 0" rpy="0 0 0"/>
            <geometry>
              <box size="${length_finger_base} ${square_finger_base} ${square_finger_base}"/>
            </geometry>
          </collision>
          <visual>
            <origin xyz="${length_finger_base/2 + gap_finger_base} 0 0" rpy="0 0 0"/>
            <geometry>
              <box size="${length_finger_base} ${square_finger_base} ${square_finger_base}"/>
            </geometry>
            <material name="Black"/>
                <color rgba="${Black}"/>
          </visual>
            <xacro:box_inertial height="${length_finger_base}" width="${square_finger_base}" depth="${square_finger_base}" mass="${mass_finger_base}" pos="${length_finger_base/2 + gap_finger_base} 0 0" ang="0 ${PI/2} 0">
            </xacro:box_inertial>
        </link>

        <joint name="${prefix}finger_00x_joint_r" type="revolute">
          <parent link="${prefix}finger_0_base_r" />
          <child link = "${prefix}finger_00_r" />
          <origin xyz="${gap_finger_base + length_finger_base} 0 0" rpy="0 0 0"/>
          <axis xyz="1 0 0"/>
          <dynamics damping="${damping}" friction="${friction}"/>
          <limit lower="${lower_limit_finger_0}" upper="${upper_limit_finger_0}" effort="${effort_wrist_y}" velocity="3"/>
        </joint>

        <link name="${prefix}finger_00_r">
          <collision>
            <origin xyz="${length_finger/2 + gap_finger} 0 0" rpy="0 0 0"/>
            <geometry>
              <box size="${length_finger} ${square_finger} ${square_finger}"/>
            </geometry>
          </collision>
          <visual>
            <origin xyz="${length_finger/2 + gap_finger} 0 0" rpy="0 0 0"/>
            <geometry>
              <box size="${length_finger} ${square_finger} ${square_finger}"/>
            </geometry>
            <material name="Black"/>
                <color rgba="${Black}"/>
          </visual>
            <xacro:box_inertial height="${length_finger}" width="${square_finger}" depth="${square_finger}" mass="${mass_finger_00}" pos="${length_finger/2 + gap_finger} 0 0" ang="0 ${PI/2} 0">
            </xacro:box_inertial>
        </link>

        <joint name="${prefix}finger_01_joint_r" type="revolute">
          <parent link="${prefix}finger_00_r" />
          <child link = "${prefix}finger_01_r" />
          <origin xyz="${gap_finger + length_finger} 0 0" rpy="0 0 0"/>
          <axis xyz="1 0 0"/>
          <dynamics damping="${damping}" friction="${friction}"/>
          <limit lower="${lower_limit_finger_1}" upper="${upper_limit_finger_1}" effort="${effort_wrist_y}" velocity="3"/>
        </joint>
        <link name="${prefix}finger_01_r">
          <collision>
            <origin xyz="${length_finger/2 + gap_finger} 0 0" rpy="0 0 0"/>
            <geometry>
              <box size="${length_finger} ${square_finger} ${square_finger}"/>
            </geometry>
          </collision>
          <visual>
            <origin xyz="${length_finger/2 + gap_finger} 0 0" rpy="0 0 0"/>
            <geometry>
              <box size="${length_finger} ${square_finger} ${square_finger}"/>
            </geometry>
            <material name="Black"/>
                <color rgba="${Black}"/>
          </visual>
            <xacro:box_inertial height="${length_finger}" width="${square_finger}" depth="${square_finger}" mass="${mass_finger_00}" pos="${length_finger/2 + gap_finger} 0 0" ang="0 ${PI/2} 0">
            </xacro:box_inertial>
        </link>

        <joint name="${prefix}finger_02_joint_r" type="revolute">
          <parent link="${prefix}finger_01_r" />
          <child link = "${prefix}finger_02_r" />
          <origin xyz="${gap_finger + length_finger} 0 0" rpy="0 0 0"/>
          <axis xyz="1 0 0"/>
          <dynamics damping="${damping}" friction="${friction}"/>
          <limit lower="${lower_limit_finger_2}" upper="${upper_limit_finger_2}" effort="${effort_wrist_y}" velocity="3"/>
        </joint>
        <link name="${prefix}finger_02_r">
          <collision>
            <origin xyz="${length_finger/2 + gap_finger} 0 0" rpy="0 0 0"/>
            <geometry>
              <box size="${length_finger} ${square_finger} ${square_finger}"/>
            </geometry>
          </collision>
          <visual>
            <origin xyz="${length_finger/2 + gap_finger} 0 0" rpy="0 0 0"/>
            <geometry>
              <box size="${length_finger} ${square_finger} ${square_finger}"/>
            </geometry>
            <material name="Black"/>
                <color rgba="${Black}"/>
          </visual>
            <xacro:box_inertial height="${length_finger}" width="${square_finger}" depth="${square_finger}" mass="${mass_finger_00}" pos="${length_finger/2 + gap_finger} 0 0" ang="0 ${PI/2} 0">
            </xacro:box_inertial>
        </link>-->
  <!-- middle finger r -->
  <!--
        <joint name="${prefix}finger_10y_joint_r" type="revolute">
          <parent link="${prefix}hand_r" />
          <child link = "${prefix}finger_1_base_r" />
          <origin xyz="${width_palm + width_gap_wrist_0} 0 ${0 * height_palm/4 + square_finger/2}" rpy="0 0 0"/>
          <axis xyz="0 1 0"/>
          <dynamics damping="${damping}" friction="${friction}"/>
          <limit lower="${lower_limit_finger_y}" upper="${upper_limit_finger_y}" effort="${effort_wrist_y}" velocity="3"/>
        </joint>
        <link name="${prefix}finger_1_base_r">
          <collision>
            <origin xyz="${length_finger_base/2 + gap_finger_base} 0 0" rpy="0 0 0"/>
            <geometry>
              <box size="${length_finger_base} ${square_finger_base} ${square_finger_base}"/>
            </geometry>
          </collision>
          <visual>
            <origin xyz="${length_finger_base/2 + gap_finger_base} 0 0" rpy="0 0 0"/>
            <geometry>
              <box size="${length_finger_base} ${square_finger_base} ${square_finger_base}"/>
            </geometry>
            <material name="Black"/>
                <color rgba="${Black}"/>
          </visual>
            <xacro:box_inertial height="${length_finger_base}" width="${square_finger_base}" depth="${square_finger_base}" mass="${mass_finger_base}" pos="${length_finger_base/2 + gap_finger_base} 0 0" ang="0 ${PI/2} 0">
            </xacro:box_inertial>
        </link>


        <joint name="${prefix}finger_10x_joint_r" type="revolute">
          <parent link="${prefix}finger_1_base_r" />
          <child link = "${prefix}finger_10_r" />
          <origin xyz="${gap_finger_base + length_finger_base} 0 0" rpy="0 0 0"/>
          <axis xyz="1 0 0"/>
          <dynamics damping="${damping}" friction="${friction}"/>
          <limit lower="${lower_limit_finger_0}" upper="${upper_limit_finger_0}" effort="${effort_wrist_y}" velocity="3"/>
        </joint>
        <link name="${prefix}finger_10_r">
          <collision>
            <origin xyz="${length_finger/2 + gap_finger} 0 0" rpy="0 0 0"/>
            <geometry>
              <box size="${length_finger} ${square_finger} ${square_finger}"/>
            </geometry>
          </collision>
          <visual>
            <origin xyz="${length_finger/2 + gap_finger} 0 0" rpy="0 0 0"/>
            <geometry>
              <box size="${length_finger} ${square_finger} ${square_finger}"/>
            </geometry>
            <material name="Black"/>
                <color rgba="${Black}"/>
          </visual>
            <xacro:box_inertial height="${length_finger}" width="${square_finger}" depth="${square_finger}" mass="${mass_finger_00}" pos="${length_finger/2 + gap_finger} 0 0" ang="0 ${PI/2} 0">
            </xacro:box_inertial>
        </link>

        <joint name="${prefix}finger_11_joint_r" type="revolute">
          <parent link="${prefix}finger_10_r" />
          <child link = "${prefix}finger_11_r" />
          <origin xyz="${gap_finger + length_finger} 0 0" rpy="0 0 0"/>
          <axis xyz="1 0 0"/>
          <dynamics damping="${damping}" friction="${friction}"/>
          <limit lower="${lower_limit_finger_1}" upper="${upper_limit_finger_1}" effort="${effort_wrist_y}" velocity="3"/>
        </joint>
        <link name="${prefix}finger_11_r">
          <collision>
            <origin xyz="${length_finger/2 + gap_finger} 0 0" rpy="0 0 0"/>
            <geometry>
              <box size="${length_finger} ${square_finger} ${square_finger}"/>
            </geometry>
          </collision>
          <visual>
            <origin xyz="${length_finger/2 + gap_finger} 0 0" rpy="0 0 0"/>
            <geometry>
              <box size="${length_finger} ${square_finger} ${square_finger}"/>
            </geometry>
            <material name="Black"/>
                <color rgba="${Black}"/>
          </visual>
            <xacro:box_inertial height="${length_finger}" width="${square_finger}" depth="${square_finger}" mass="${mass_finger_00}" pos="${length_finger/2 + gap_finger} 0 0" ang="0 ${PI/2} 0">
            </xacro:box_inertial>
        </link>

        <joint name="${prefix}finger_12_joint_r" type="revolute">
          <parent link="${prefix}finger_11_r" />
          <child link = "${prefix}finger_12_r" />
          <origin xyz="${gap_finger + length_finger} 0 0" rpy="0 0 0"/>
          <axis xyz="1 0 0"/>
          <dynamics damping="${damping}" friction="${friction}"/>
          <limit lower="${lower_limit_finger_2}" upper="${upper_limit_finger_2}" effort="${effort_wrist_y}" velocity="3"/>
        </joint>
        <link name="${prefix}finger_12_r">
          <collision>
            <origin xyz="${length_finger/2 + gap_finger} 0 0" rpy="0 0 0"/>
            <geometry>
              <box size="${length_finger} ${square_finger} ${square_finger}"/>
            </geometry>
          </collision>
          <visual>
            <origin xyz="${length_finger/2 + gap_finger} 0 0" rpy="0 0 0"/>
            <geometry>
              <box size="${length_finger} ${square_finger} ${square_finger}"/>
            </geometry>
            <material name="Black"/>
                <color rgba="${Black}"/>
          </visual>
            <xacro:box_inertial height="${length_finger}" width="${square_finger}" depth="${square_finger}" mass="${mass_finger_00}" pos="${length_finger/2 + gap_finger} 0 0" ang="0 ${PI/2} 0">
            </xacro:box_inertial>
        </link>-->
  <!-- ring finger r -->
  <!--
        <joint name="${prefix}finger_20y_joint_r" type="revolute">
          <parent link="${prefix}hand_r" />
          <child link = "${prefix}finger_2_base_r" />
          <origin xyz="${width_palm + width_gap_wrist_0} 0 ${-1 * height_palm/4 + square_finger/2}" rpy="0 0 0"/>
          <axis xyz="0 1 0"/>
          <dynamics damping="${damping}" friction="${friction}"/>
          <limit lower="${lower_limit_finger_y}" upper="${upper_limit_finger_y}" effort="${effort_wrist_y}" velocity="3"/>
        </joint>
        <link name="${prefix}finger_2_base_r">
          <collision>
            <origin xyz="${length_finger_base/2 + gap_finger_base} 0 0" rpy="0 0 0"/>
            <geometry>
              <box size="${length_finger_base} ${square_finger_base} ${square_finger_base}"/>
            </geometry>
          </collision>
          <visual>
            <origin xyz="${length_finger_base/2 + gap_finger_base} 0 0" rpy="0 0 0"/>
            <geometry>
              <box size="${length_finger_base} ${square_finger_base} ${square_finger_base}"/>
            </geometry>
            <material name="Black"/>
                <color rgba="${Black}"/>
          </visual>
            <xacro:box_inertial height="${length_finger_base}" width="${square_finger_base}" depth="${square_finger_base}" mass="${mass_finger_base}" pos="${length_finger_base/2 + gap_finger_base} 0 0" ang="0 ${PI/2} 0">
            </xacro:box_inertial>
        </link>


        <joint name="${prefix}finger_20x_joint_r" type="revolute">
          <parent link="${prefix}finger_2_base_r" />
          <child link = "${prefix}finger_20_r" />
          <origin xyz="${gap_finger_base + length_finger_base} 0 0" rpy="0 0 0"/>
          <axis xyz="1 0 0"/>
          <dynamics damping="${damping}" friction="${friction}"/>
          <limit lower="${lower_limit_finger_0}" upper="${upper_limit_finger_0}" effort="${effort_wrist_y}" velocity="3"/>
        </joint>
        <link name="${prefix}finger_20_r">
          <collision>
            <origin xyz="${length_finger/2 + gap_finger} 0 0" rpy="0 0 0"/>
            <geometry>
              <box size="${length_finger} ${square_finger} ${square_finger}"/>
            </geometry>
          </collision>
          <visual>
            <origin xyz="${length_finger/2 + gap_finger} 0 0" rpy="0 0 0"/>
            <geometry>
              <box size="${length_finger} ${square_finger} ${square_finger}"/>
            </geometry>
            <material name="Black"/>
                <color rgba="${Black}"/>
          </visual>
            <xacro:box_inertial height="${length_finger}" width="${square_finger}" depth="${square_finger}" mass="${mass_finger_00}" pos="${length_finger/2 + gap_finger} 0 0" ang="0 ${PI/2} 0">
            </xacro:box_inertial>
        </link>

        <joint name="${prefix}finger_21_joint_r" type="revolute">
          <parent link="${prefix}finger_20_r" />
          <child link = "${prefix}finger_21_r" />
          <origin xyz="${gap_finger + length_finger} 0 0" rpy="0 0 0"/>
          <axis xyz="1 0 0"/>
          <dynamics damping="${damping}" friction="${friction}"/>
          <limit lower="${lower_limit_finger_1}" upper="${upper_limit_finger_1}" effort="${effort_wrist_y}" velocity="3"/>
        </joint>
        <link name="${prefix}finger_21_r">
          <collision>
            <origin xyz="${length_finger/2 + gap_finger} 0 0" rpy="0 0 0"/>
            <geometry>
              <box size="${length_finger} ${square_finger} ${square_finger}"/>
            </geometry>
          </collision>
          <visual>
            <origin xyz="${length_finger/2 + gap_finger} 0 0" rpy="0 0 0"/>
            <geometry>
              <box size="${length_finger} ${square_finger} ${square_finger}"/>
            </geometry>
            <material name="Black"/>
                <color rgba="${Black}"/>
          </visual>
            <xacro:box_inertial height="${length_finger}" width="${square_finger}" depth="${square_finger}" mass="${mass_finger_00}" pos="${length_finger/2 + gap_finger} 0 0" ang="0 ${PI/2} 0">
            </xacro:box_inertial>
        </link>

        <joint name="${prefix}finger_22_joint_r" type="revolute">
          <parent link="${prefix}finger_21_r" />
          <child link = "${prefix}finger_22_r" />
          <origin xyz="${gap_finger + length_finger} 0 0" rpy="0 0 0"/>
          <axis xyz="1 0 0"/>
          <dynamics damping="${damping}" friction="${friction}"/>
          <limit lower="${lower_limit_finger_2}" upper="${upper_limit_finger_2}" effort="${effort_wrist_y}" velocity="3"/>
        </joint>
        <link name="${prefix}finger_22_r">
          <collision>
            <origin xyz="${length_finger/2 + gap_finger} 0 0" rpy="0 0 0"/>
            <geometry>
              <box size="${length_finger} ${square_finger} ${square_finger}"/>
            </geometry>
          </collision>
          <visual>
            <origin xyz="${length_finger/2 + gap_finger} 0 0" rpy="0 0 0"/>
            <geometry>
              <box size="${length_finger} ${square_finger} ${square_finger}"/>
            </geometry>
            <material name="Black"/>
                <color rgba="${Black}"/>
          </visual>
            <xacro:box_inertial height="${length_finger}" width="${square_finger}" depth="${square_finger}" mass="${mass_finger_00}" pos="${length_finger/2 + gap_finger} 0 0" ang="0 ${PI/2} 0">
            </xacro:box_inertial>
        </link>-->
  <!-- pinky finger r -->
  <!--
        <joint name="${prefix}finger_30y_joint_r" type="revolute">
          <parent link="${prefix}hand_r" />
          <child link = "${prefix}finger_3_base_r" />
          <origin xyz="${width_palm + width_gap_wrist_0} 0 ${-2 * height_palm/4 + square_finger/2}" rpy="0 0 0"/>
          <axis xyz="0 1 0"/>
          <dynamics damping="${damping}" friction="${friction}"/>
          <limit lower="${lower_limit_finger_y}" upper="${upper_limit_finger_y}" effort="${effort_wrist_y}" velocity="3"/>
        </joint>
        <link name="${prefix}finger_3_base_r">
          <collision>
            <origin xyz="${length_finger_base/2 + gap_finger_base} 0 0" rpy="0 0 0"/>
            <geometry>
              <box size="${length_finger_base} ${square_finger_base} ${square_finger_base}"/>
            </geometry>
          </collision>
          <visual>
            <origin xyz="${length_finger_base/2 + gap_finger_base} 0 0" rpy="0 0 0"/>
            <geometry>
              <box size="${length_finger_base} ${square_finger_base} ${square_finger_base}"/>
            </geometry>
            <material name="Black"/>
                <color rgba="${Black}"/>
          </visual>
            <xacro:box_inertial height="${length_finger_base}" width="${square_finger_base}" depth="${square_finger_base}" mass="${mass_finger_base}" pos="${length_finger_base/2 + gap_finger_base} 0 0" ang="0 ${PI/2} 0">
            </xacro:box_inertial>
        </link>


        <joint name="${prefix}finger_30x_joint_r" type="revolute">
          <parent link="${prefix}finger_3_base_r" />
          <child link = "${prefix}finger_30_r" />
          <origin xyz="${gap_finger_base + length_finger_base} 0 0" rpy="0 0 0"/>
          <axis xyz="1 0 0"/>
          <dynamics damping="${damping}" friction="${friction}"/>
          <limit lower="${lower_limit_finger_0}" upper="${upper_limit_finger_0}" effort="${effort_wrist_y}" velocity="3"/>
        </joint>
        <link name="${prefix}finger_30_r">
          <collision>
            <origin xyz="${length_finger/2 + gap_finger} 0 0" rpy="0 0 0"/>
            <geometry>
              <box size="${length_finger} ${square_finger} ${square_finger}"/>
            </geometry>
          </collision>
          <visual>
            <origin xyz="${length_finger/2 + gap_finger} 0 0" rpy="0 0 0"/>
            <geometry>
              <box size="${length_finger} ${square_finger} ${square_finger}"/>
            </geometry>
            <material name="Black"/>
                <color rgba="${Black}"/>
          </visual>
            <xacro:box_inertial height="${length_finger}" width="${square_finger}" depth="${square_finger}" mass="${mass_finger_00}" pos="${length_finger/2 + gap_finger} 0 0" ang="0 ${PI/2} 0">
            </xacro:box_inertial>
        </link>

        <joint name="${prefix}finger_31_joint_r" type="revolute">
          <parent link="${prefix}finger_30_r" />
          <child link = "${prefix}finger_31_r" />
          <origin xyz="${gap_finger + length_finger} 0 0" rpy="0 0 0"/>
          <axis xyz="1 0 0"/>
          <dynamics damping="${damping}" friction="${friction}"/>
          <limit lower="${lower_limit_finger_1}" upper="${upper_limit_finger_1}" effort="${effort_wrist_y}" velocity="3"/>
        </joint>
        <link name="${prefix}finger_31_r">
          <collision>
            <origin xyz="${length_finger/2 + gap_finger} 0 0" rpy="0 0 0"/>
            <geometry>
              <box size="${length_finger} ${square_finger} ${square_finger}"/>
            </geometry>
          </collision>
          <visual>
            <origin xyz="${length_finger/2 + gap_finger} 0 0" rpy="0 0 0"/>
            <geometry>
              <box size="${length_finger} ${square_finger} ${square_finger}"/>
            </geometry>
            <material name="Black"/>
                <color rgba="${Black}"/>
          </visual>
            <xacro:box_inertial height="${length_finger}" width="${square_finger}" depth="${square_finger}" mass="${mass_finger_00}" pos="${length_finger/2 + gap_finger} 0 0" ang="0 ${PI/2} 0">
            </xacro:box_inertial>
        </link>

        <joint name="${prefix}finger_32_joint_r" type="revolute">
          <parent link="${prefix}finger_31_r" />
          <child link = "${prefix}finger_32_r" />
          <origin xyz="${gap_finger + length_finger} 0 0" rpy="0 0 0"/>
          <axis xyz="1 0 0"/>
          <dynamics damping="${damping}" friction="${friction}"/>
          <limit lower="${lower_limit_finger_2}" upper="${upper_limit_finger_2}" effort="${effort_wrist_y}" velocity="3"/>
        </joint>
        <link name="${prefix}finger_32_r">
          <collision>
            <origin xyz="${length_finger/2 + gap_finger} 0 0" rpy="0 0 0"/>
            <geometry>
              <box size="${length_finger} ${square_finger} ${square_finger}"/>
            </geometry>
          </collision>
          <visual>
            <origin xyz="${length_finger/2 + gap_finger} 0 0" rpy="0 0 0"/>
            <geometry>
              <box size="${length_finger} ${square_finger} ${square_finger}"/>
            </geometry>
            <material name="Black"/>
                <color rgba="${Black}"/>
          </visual>
            <xacro:box_inertial height="${length_finger}" width="${square_finger}" depth="${square_finger}" mass="${mass_finger_00}" pos="${length_finger/2 + gap_finger} 0 0" ang="0 ${PI/2} 0">
            </xacro:box_inertial>
        </link>-->
  <!-- thumb r -->
  <!--TODO: add thumb_y-->
  <!--
        <joint name="${prefix}thumb_y_joint_r" type="revolute">
          <parent link="${prefix}hand_r" />
          <child link = "${prefix}thumb_base_r" />
          <origin xyz="${width_palm/4 + width_gap_wrist_0} 0 ${height_palm/2}" rpy="0 0 0"/>
          <axis xyz="0 1 0"/>
          <dynamics damping="${damping}" friction="${friction}"/>
          <limit lower="${lower_limit_finger_y}" upper="${upper_limit_finger_y}" effort="${effort_wrist_y}" velocity="3"/>
        </joint>
        <link name="${prefix}thumb_base_r">
          <collision>
            <origin xyz="0 0 ${length_finger_base/2 + gap_finger_base}" rpy="0 0 0"/>
            <geometry>
              <box size="${length_finger_base} ${square_finger_base} ${square_finger_base}"/>
            </geometry>
          </collision>
          <visual>
            <origin xyz="0 0 ${length_finger_base/2 + gap_finger_base}" rpy="0 0 0"/>
            <geometry>
              <box size="${length_finger_base} ${square_finger_base} ${square_finger_base}"/>
            </geometry>
            <material name="Black"/>
                <color rgba="${Black}"/>
          </visual>
            <xacro:box_inertial height="${length_finger_base}" width="${square_finger_base}" depth="${square_finger_base}" mass="${mass_finger_base}" pos="${length_finger_base/2 + gap_finger_base} 0 0" ang="0 ${PI/2} 0">
            </xacro:box_inertial>
        </link>



        <joint name="${prefix}thumb_0_joint_r" type="revolute">
          <parent link="${prefix}thumb_base_r" />
          <child link = "${prefix}thumb_0_r" />
          <origin xyz="0 0 ${gap_finger + length_finger_base}" rpy="0 ${-PI/2} 0"/>
          <axis xyz="0 0 1"/>
          <dynamics damping="${damping}" friction="${friction}"/>
          <limit lower="${lower_limit_thumb_y}" upper="${upper_limit_thumb_y}" effort="${effort_wrist_y}" velocity="3"/>
        </joint>
        <link name="${prefix}thumb_0_r">
          <collision>
            <origin xyz="${length_finger/2 + gap_finger} 0 0" rpy="0 0 0"/>
            <geometry>
              <box size="${length_finger} ${square_finger} ${square_finger}"/>
            </geometry>
          </collision>
          <visual>
            <origin xyz="${length_finger/2 + gap_finger} 0 0" rpy="0 0 0"/>
            <geometry>
              <box size="${length_finger} ${square_finger} ${square_finger}"/>
            </geometry>
            <material name="Black"/>
                <color rgba="${Black}"/>
          </visual>
            <xacro:box_inertial height="${length_finger}" width="${square_finger}" depth="${square_finger}" mass="${mass_finger_00}" pos="${length_finger/2 + gap_finger} 0 0" ang="0 ${PI/2} 0">
            </xacro:box_inertial>
        </link>

        <joint name="${prefix}thumb_1_joint_r" type="revolute">
          <parent link="${prefix}thumb_0_r" />
          <child link = "${prefix}thumb_1_r" />
          <origin xyz="${gap_finger + length_finger} 0 0" rpy="0 0 0"/>
          <axis xyz="0 0 1"/>
          <dynamics damping="${damping}" friction="${friction}"/>
          <limit lower="${lower_limit_thumb_0}" upper="${upper_limit_wrist_y}" effort="${effort_wrist_y}" velocity="3"/>
        </joint>
        <link name="${prefix}thumb_1_r">
          <collision>
            <origin xyz="${length_finger/2 + gap_finger} 0 0" rpy="0 0 0"/>
            <geometry>
              <box size="${length_finger} ${square_finger} ${square_finger}"/>
            </geometry>
          </collision>
          <visual>
            <origin xyz="${length_finger/2 + gap_finger} 0 0" rpy="0 0 0"/>
            <geometry>
              <box size="${length_finger} ${square_finger} ${square_finger}"/>
            </geometry>
            <material name="Black"/>
                <color rgba="${Black}"/>
          </visual>
            <xacro:box_inertial height="${length_finger}" width="${square_finger}" depth="${square_finger}" mass="${mass_finger_00}" pos="${length_finger/2 + gap_finger} 0 0" ang="0 ${PI/2} 0">
            </xacro:box_inertial>
        </link>

        <joint name="${prefix}thumb_2_joint_r" type="revolute">
          <parent link="${prefix}thumb_1_r" />
          <child link = "${prefix}thumb_2_r" />
          <origin xyz="${gap_finger + length_finger} 0 0" rpy="0 0 0"/>
          <axis xyz="0 0 1"/>
          <dynamics damping="${damping}" friction="${friction}"/>
          <limit lower="${lower_limit_wrist_y}" upper="${upper_limit_wrist_y}" effort="${effort_wrist_y}" velocity="3"/>
        </joint>
        <link name="${prefix}thumb_2_r">
          <collision>
            <origin xyz="${length_finger/2 + gap_finger} 0 0" rpy="0 0 0"/>
            <geometry>
              <box size="${length_finger} ${square_finger} ${square_finger}"/>
            </geometry>
          </collision>
          <visual>
            <origin xyz="${length_finger/2 + gap_finger} 0 0" rpy="0 0 0"/>
            <geometry>
              <box size="${length_finger} ${square_finger} ${square_finger}"/>
            </geometry>
            <material name="Black"/>
                <color rgba="${Black}"/>
          </visual>
            <xacro:box_inertial height="${length_finger}" width="${square_finger}" depth="${square_finger}" mass="${mass_finger_00}" pos="${length_finger/2 + gap_finger} 0 0" ang="0 ${PI/2} 0">
            </xacro:box_inertial>
        </link>-->
  <!-- RIGHT LEG -->
  <joint name="hip_r_z" type="revolute">
    <parent link="pelvis"/>
    <child link="hip_r_z_x"/>
    <origin rpy="0 0 0" xyz="0.1 0 0"/>
    <axis xyz="0 0 1"/>
    <dynamics damping="0"/>
    <limit effort="3.92" lower="-0.78" upper="0.78" velocity="1.75"/>
  </joint>
  <link name="hip_r_z_x">
    <visual>
      <origin rpy="0 0 0" xyz="0 0 0"/>
      <geometry>
        <mesh filename="package://tori_description/meshes/hip_z_x_r.stl" scale=".001 .001 .001"/>
      </geometry>
      <material name="Black"/>
      <color rgba="0.0 0.0 0.0 0.0"/>
    </visual>
    <collision>
      <origin rpy="0 0 0" xyz="0 0 0"/>
      <geometry>
        <mesh filename="package://tori_description/meshes/hip_z_x_r.stl" scale=".001 .001 .001"/>
        --&gt;
          
      </geometry>
    </collision>
    <inertial>
      <origin rpy="0 0 0" xyz=".017571852 -.000349534 -.040100899"/>
      <mass value="0.121"/>
      <inertia ixx="0.000555098688" ixy="-2.3181858e-05" ixz="-0.00012467436799999999" iyy="0.000702137664" iyz="-7.1664776e-05" izz="0.00028148224"/>
    </inertial>
  </link>
  <joint name="hip_r_x_servo_0_joint" type="fixed">
    <parent link="hip_r_z_x"/>
    <child link="hip_r_x_servo_0"/>
    <origin rpy="0 0 1.5707963267948966" xyz="-.040 0 -.090"/>
  </joint>
  <link name="hip_r_x_servo_0">
    <visual>
      <origin rpy="0 0 0" xyz="0 0 0"/>
      <geometry>
        <mesh filename="package://tori_description/meshes/servo.stl" scale=".001 .001 .001"/>
      </geometry>
      <material name="Black"/>
      <color rgba="0.0 0.0 0.0 0.0"/>
    </visual>
    <collision>
      <origin rpy="0 0 0" xyz="0 0 0"/>
      <geometry>
        <mesh filename="package://tori_description/meshes/servo.stl" scale=".001 .001 .001"/>
        --&gt;
          
      </geometry>
    </collision>
    <inertial>
      <origin rpy="0 0 0" xyz="0 0 0"/>
      <mass value="0.07"/>
      <inertia ixx="8.106666e-06" ixy="0.0" ixz="0.0" iyy="4.967866e-06" iyz="0.0" izz="4.967866e-06"/>
    </inertial>
  </link>
  <joint name="hip_r_x_servo_1_joint" type="fixed">
    <parent link="hip_r_z_x"/>
    <child link="hip_r_x_servo_1"/>
    <origin rpy="0 0 1.5707963267948966" xyz=".050 0 -.090"/>
  </joint>
  <link name="hip_r_x_servo_1">
    <visual>
      <origin rpy="0 0 0" xyz="0 0 0"/>
      <geometry>
        <mesh filename="package://tori_description/meshes/servo.stl" scale=".001 .001 .001"/>
      </geometry>
      <material name="Black"/>
      <color rgba="0.0 0.0 0.0 0.0"/>
    </visual>
    <collision>
      <origin rpy="0 0 0" xyz="0 0 0"/>
      <geometry>
        <mesh filename="package://tori_description/meshes/servo.stl" scale=".001 .001 .001"/>
        --&gt;
          
      </geometry>
    </collision>
    <inertial>
      <origin rpy="0 0 0" xyz="0 0 0"/>
      <mass value="0.07"/>
      <inertia ixx="8.106666e-06" ixy="0.0" ixz="0.0" iyy="4.967866e-06" iyz="0.0" izz="4.967866e-06"/>
    </inertial>
  </link>
  <joint name="hip_r_x" type="revolute">
    <parent link="hip_r_z_x"/>
    <child link="hip_r_x_y"/>
    <origin rpy="0 0 0" xyz="0 0 -0.1"/>
    <axis xyz="1 0 0"/>
    <dynamics damping="0"/>
    <limit effort="3.92" lower="0" upper="0.8" velocity="1.75"/>
  </joint>
  <link name="hip_r_x_y">
    <visual>
      <origin rpy="0 0 0" xyz="0 0 0"/>
      <geometry>
        <mesh filename="package://tori_description/meshes/hip_x_y_r.stl" scale=".001 .001 .001"/>
      </geometry>
      <material name="Black"/>
      <color rgba="0.0 0.0 0.0 0.0"/>
    </visual>
    <collision>
      <origin rpy="0 0 0" xyz="0 0 0"/>
      <geometry>
        <mesh filename="package://tori_description/meshes/hip_x_y_r.stl" scale=".001 .001 .001"/>
        --&gt;
          
      </geometry>
    </collision>
    <inertial>
      <origin rpy="0 0 0" xyz=".001916841 .000003669 -.019280025"/>
      <mass value="0.057"/>
      <inertia ixx="9.0326312e-05" ixy="3.7192734e-11" ixz="2.91097875e-06" iyy="0.000127017272" iyz="6.164478516e-09" izz="0.000164451008"/>
    </inertial>
  </link>
  <joint name="hip_r_y" type="revolute">
    <parent link="hip_r_x_y"/>
    <child link="thigh_r"/>
    <origin rpy="0 0 0" xyz="0 0 -0.035"/>
    <axis xyz="0 1 0"/>
    <dynamics damping="0"/>
    <limit effort="3.92" lower="-0.52" upper="0.78" velocity="1.75"/>
  </joint>
  <link name="thigh_r">
    <visual>
      <origin rpy="0 0 0" xyz="0 0 0"/>
      <geometry>
        <mesh filename="package://tori_description/meshes/thigh_r.stl" scale=".001 .001 .001"/>
      </geometry>
      <material name="Black"/>
      <color rgba="0.0 0.0 0.0 0.0"/>
    </visual>
    <collision>
      <origin rpy="0 0 0" xyz="0 0 0"/>
      <geometry>
        <mesh filename="package://tori_description/meshes/thigh_r_collision.stl" scale=".001 .001 .001"/>
      </geometry>
    </collision>
    <inertial>
      <origin rpy="0 0 0" xyz="-.002060035 .006943111 -.137971710"/>
      <mass value="0.343"/>
      <inertia ixx="0.002767439104" ixy="-3.4047525e-07" ixz="8.016495e-06" iyy="0.0027336176639999998" iyz="0.000450212992" izz="0.00210200128"/>
    </inertial>
  </link>
  <joint name="hip_r_y_servo_0_joint" type="fixed">
    <parent link="thigh_r"/>
    <child link="hip_r_y_servo_0"/>
    <origin rpy="0 0 0" xyz="0 .035 -.011"/>
  </joint>
  <link name="hip_r_y_servo_0">
    <visual>
      <origin rpy="0 0 0" xyz="0 0 0"/>
      <geometry>
        <mesh filename="package://tori_description/meshes/servo.stl" scale=".001 .001 .001"/>
      </geometry>
      <material name="Black"/>
      <color rgba="0.0 0.0 0.0 0.0"/>
    </visual>
    <collision>
      <origin rpy="0 0 0" xyz="0 0 0"/>
      <geometry>
        <mesh filename="package://tori_description/meshes/servo.stl" scale=".001 .001 .001"/>
        --&gt;
          
      </geometry>
    </collision>
    <inertial>
      <origin rpy="0 0 0" xyz="0 0 0"/>
      <mass value="0.07"/>
      <inertia ixx="8.106666e-06" ixy="0.0" ixz="0.0" iyy="4.967866e-06" iyz="0.0" izz="4.967866e-06"/>
    </inertial>
  </link>
  <joint name="hip_r_y_servo_1_joint" type="fixed">
    <parent link="thigh_r"/>
    <child link="hip_r_y_servo_1"/>
    <origin rpy="0 0 0" xyz="0 -.035 -.011"/>
  </joint>
  <link name="hip_r_y_servo_1">
    <visual>
      <origin rpy="0 0 0" xyz="0 0 0"/>
      <geometry>
        <mesh filename="package://tori_description/meshes/servo.stl" scale=".001 .001 .001"/>
      </geometry>
      <material name="Black"/>
      <color rgba="0.0 0.0 0.0 0.0"/>
    </visual>
    <collision>
      <origin rpy="0 0 0" xyz="0 0 0"/>
      <geometry>
        <mesh filename="package://tori_description/meshes/servo.stl" scale=".001 .001 .001"/>
        --&gt;
          
      </geometry>
    </collision>
    <inertial>
      <origin rpy="0 0 0" xyz="0 0 0"/>
      <mass value="0.07"/>
      <inertia ixx="8.106666e-06" ixy="0.0" ixz="0.0" iyy="4.967866e-06" iyz="0.0" izz="4.967866e-06"/>
    </inertial>
  </link>
  <joint name="knee_r_servo_0_joint" type="fixed">
    <parent link="thigh_r"/>
    <child link="knee_r_servo_0"/>
    <origin rpy="0 0 1.5707963267948966" xyz="-.030 0 -.190"/>
  </joint>
  <link name="knee_r_servo_0">
    <visual>
      <origin rpy="0 0 0" xyz="0 0 0"/>
      <geometry>
        <mesh filename="package://tori_description/meshes/servo.stl" scale=".001 .001 .001"/>
      </geometry>
      <material name="Black"/>
      <color rgba="0.0 0.0 0.0 0.0"/>
    </visual>
    <collision>
      <origin rpy="0 0 0" xyz="0 0 0"/>
      <geometry>
        <mesh filename="package://tori_description/meshes/servo.stl" scale=".001 .001 .001"/>
        --&gt;
          
      </geometry>
    </collision>
    <inertial>
      <origin rpy="0 0 0" xyz="0 0 0"/>
      <mass value="0.064"/>
      <inertia ixx="8.106666e-06" ixy="0.0" ixz="0.0" iyy="4.967866e-06" iyz="0.0" izz="4.967866e-06"/>
    </inertial>
  </link>
  <joint name="knee_r_servo_1_joint" type="fixed">
    <parent link="thigh_r"/>
    <child link="knee_r_servo_1"/>
    <origin rpy="0 0 1.5707963267948966" xyz=".030 0 -.190"/>
  </joint>
  <link name="knee_r_servo_1">
    <visual>
      <origin rpy="0 0 0" xyz="0 0 0"/>
      <geometry>
        <mesh filename="package://tori_description/meshes/servo.stl" scale=".001 .001 .001"/>
      </geometry>
      <material name="Black"/>
      <color rgba="0.0 0.0 0.0 0.0"/>
    </visual>
    <collision>
      <origin rpy="0 0 0" xyz="0 0 0"/>
      <geometry>
        <mesh filename="package://tori_description/meshes/servo.stl" scale=".001 .001 .001"/>
        --&gt;
          
      </geometry>
    </collision>
    <inertial>
      <origin rpy="0 0 0" xyz="0 0 0"/>
      <mass value="0.064"/>
      <inertia ixx="8.106666e-06" ixy="0.0" ixz="0.0" iyy="4.967866e-06" iyz="0.0" izz="4.967866e-06"/>
    </inertial>
  </link>
  <joint name="knee_r" type="revolute">
    <parent link="thigh_r"/>
    <child link="calf_r"/>
    <origin rpy="0 0 0" xyz="0 0 -0.198"/>
    <axis xyz="1 0 0"/>
    <dynamics damping="0"/>
    <limit effort="3.92" lower="-1.57" upper="0" velocity="1.97"/>
  </joint>
  <link name="calf_r">
    <visual>
      <origin rpy="0 0 0" xyz="0 0 0"/>
      <geometry>
        <mesh filename="package://tori_description/meshes/calf_r.stl" scale=".001 .001 .001"/>
      </geometry>
      <material name="1.0 1.0 1.0 1.0"/>
    </visual>
    <collision>
      <origin rpy="0 0 0" xyz="0 0 0"/>
      <geometry>
        <mesh filename="package://tori_description/meshes/calf_r_collision.stl" scale=".001 .001 .001"/>
      </geometry>
    </collision>
    <inertial>
      <origin rpy="0 0 0" xyz="-.000004121 .007987968 -.128351074"/>
      <mass value="0.41"/>
      <inertia ixx="0.004194820608" ixy="-4.73618125e-07" ixz="-4.5179603125e-07" iyy="0.004509438976" iyz="6.2615448e-05" izz="0.003256164352"/>
    </inertial>
  </link>
  <joint name="ankle_servo_0_joint" type="fixed">
    <parent link="calf_r"/>
    <child link="ankle_servo_0"/>
    <origin rpy="0 0 1.5707963267948966" xyz="-.045 0 -.211"/>
  </joint>
  <link name="ankle_servo_0">
    <visual>
      <origin rpy="0 0 0" xyz="0 0 0"/>
      <geometry>
        <mesh filename="package://tori_description/meshes/servo.stl" scale=".001 .001 .001"/>
      </geometry>
      <material name="Black"/>
      <color rgba="0.0 0.0 0.0 0.0"/>
    </visual>
    <collision>
      <origin rpy="0 0 0" xyz="0 0 0"/>
      <geometry>
        <mesh filename="package://tori_description/meshes/servo.stl" scale=".001 .001 .001"/>
        --&gt;
          
      </geometry>
    </collision>
    <inertial>
      <origin rpy="0 0 0" xyz="0 0 0"/>
      <mass value="0.07"/>
      <inertia ixx="8.106666e-06" ixy="0.0" ixz="0.0" iyy="4.967866e-06" iyz="0.0" izz="4.967866e-06"/>
    </inertial>
  </link>
  <joint name="ankle_servo_1_joint" type="fixed">
    <parent link="calf_r"/>
    <child link="ankle_servo_1"/>
    <origin rpy="0 0 1.5707963267948966" xyz=".045 0 -.211"/>
  </joint>
  <link name="ankle_servo_1">
    <visual>
      <origin rpy="0 0 0" xyz="0 0 0"/>
      <geometry>
        <mesh filename="package://tori_description/meshes/servo.stl" scale=".001 .001 .001"/>
      </geometry>
      <material name="Black"/>
      <color rgba="0.0 0.0 0.0 0.0"/>
    </visual>
    <collision>
      <origin rpy="0 0 0" xyz="0 0 0"/>
      <geometry>
        <mesh filename="package://tori_description/meshes/servo.stl" scale=".001 .001 .001"/>
        --&gt;
          
      </geometry>
    </collision>
    <inertial>
      <origin rpy="0 0 0" xyz="0 0 0"/>
      <mass value="0.07"/>
      <inertia ixx="8.106666e-06" ixy="0.0" ixz="0.0" iyy="4.967866e-06" iyz="0.0" izz="4.967866e-06"/>
    </inertial>
  </link>
  <joint name="ankle_r_x" type="revolute">
    <parent link="calf_r"/>
    <child link="ankle_r"/>
    <origin rpy="0 0 0" xyz="0 0 -0.222"/>
    <axis xyz="1 0 0"/>
    <dynamics damping="0"/>
    <limit effort="3.92" lower="-0.52" upper="0.8" velocity="1.75"/>
  </joint>
  <link name="ankle_r">
    <collision>
      <origin rpy="0 0 0" xyz="0 0 0"/>
      <geometry>
        <mesh filename="package://tori_description/meshes/ankle_r_collision.stl" scale=".001 .001 .001"/>
      </geometry>
    </collision>
    <visual>
      <origin rpy="0 0 0" xyz="0 0 0"/>
      <geometry>
        <mesh filename="package://tori_description/meshes/ankle_r_collision.stl" scale=".001 .001 .001"/>
      </geometry>
      <material name="Black"/>
      <color rgba="0.0 0.0 0.0 0.0"/>
    </visual>
    <inertial>
      <origin rpy="0 0 0" xyz="-.000618945 .000017144 -.043992859"/>
      <mass value="0.058"/>
      <inertia ixx="0.000123806944" ixy="2.96732086e-10" ixz="1.84197671875e-07" iyy="0.000127575752" iyz="3.6397789062e-08" izz="0.00022416552"/>
    </inertial>
  </link>
  <joint name="foot_servo_0_joint" type="fixed">
    <parent link="foot_r"/>
    <child link="foot_servo_0"/>
    <origin rpy="0 0 0" xyz="0 .045 -.012"/>
  </joint>
  <link name="foot_servo_0">
    <visual>
      <origin rpy="0 0 0" xyz="0 0 0"/>
      <geometry>
        <mesh filename="package://tori_description/meshes/servo.stl" scale=".001 .001 .001"/>
      </geometry>
      <material name="Black"/>
      <color rgba="0.0 0.0 0.0 0.0"/>
    </visual>
    <collision>
      <origin rpy="0 0 0" xyz="0 0 -.05"/>
      <geometry>
        <mesh filename="package://tori_description/meshes/servo.stl" scale=".001 .001 .001"/>
        --&gt;
          
      </geometry>
    </collision>
    <inertial>
      <origin rpy="0 0 0" xyz="0 0 0"/>
      <mass value="0.07"/>
      <inertia ixx="8.106666e-06" ixy="0.0" ixz="0.0" iyy="4.967866e-06" iyz="0.0" izz="4.967866e-06"/>
    </inertial>
  </link>
  <joint name="foot_servo_1_joint" type="fixed">
    <parent link="foot_r"/>
    <child link="foot_servo_1"/>
    <origin rpy="0 0 0" xyz="0 -.045 -.012"/>
  </joint>
  <link name="foot_servo_1">
    <visual>
      <origin rpy="0 0 0" xyz="0 0 0"/>
      <geometry>
        <mesh filename="package://tori_description/meshes/servo.stl" scale=".001 .001 .001"/>
      </geometry>
      <material name="Black"/>
      <color rgba="0.0 0.0 0.0 0.0"/>
    </visual>
    <collision>
      <origin rpy="0 0 0" xyz="0 0 0"/>
      <geometry>
        <mesh filename="package://tori_description/meshes/servo.stl" scale=".001 .001 .001"/>
        --&gt;
          
      </geometry>
    </collision>
    <inertial>
      <origin rpy="0 0 0" xyz="0 0 0"/>
      <mass value="0.07"/>
      <inertia ixx="8.106666e-06" ixy="0.0" ixz="0.0" iyy="4.967866e-06" iyz="0.0" izz="4.967866e-06"/>
    </inertial>
  </link>
  <!--
      <joint name="${prefix}ball_joint_r" type="revolute">
        <parent link="${prefix}foot_r"/>
        <child link="${prefix}ball_r"/>
        <origin xyz="0 .1 -.02" rpy="0 0 0"/>
        <axis xyz="1 0 0"/>
        <dynamics damping="${damping}"/>
      <limit lower="${lower_limit_ball}" upper="${upper_limit_ball}" effort="${effort_ball}" velocity="${joint_velocity}"/>
    </joint>
      <link name="${prefix}ball_r">
        <collision>
          <origin xyz=".0 .025 0" rpy="0 0 0"/>
          <geometry>
            <box size="0.08 0.05 0.02"/>
          </geometry>
        </collision>
        <visual>
          <origin xyz=".0 .025 0" rpy="0 0 0"/>
          <geometry>
            <box size="0.08 0.05 0.02"/>
          </geometry>
          <material name="${Red}"/>
        </visual>
        <xacro:box_inertial height=".02" width="0.08" depth=".05" mass="${mass_ball}" pos=".0 .025 0" ang="0 0 0">
        </xacro:box_inertial>
      </link>-->
  <!-- LEFT LEG -->
  <joint name="hip_l_z" type="revolute">
    <parent link="pelvis"/>
    <child link="hip_l_z_x"/>
    <origin rpy="0 0 0" xyz="-0.1 0 0"/>
    <axis xyz="0 0 -1"/>
    <dynamics damping="0"/>
    <limit effort="3.92" lower="-0.78" upper="0.78" velocity="1.75"/>
  </joint>
  <link name="hip_l_z_x">
    <visual>
      <origin rpy="0 0 0" xyz="0 0 0"/>
      <geometry>
        <mesh filename="package://tori_description/meshes/hip_z_x_l.stl" scale=".001 .001 .001"/>
      </geometry>
      <material name="Black"/>
      <color rgba="0.0 0.0 0.0 0.0"/>
    </visual>
    <collision>
      <origin rpy="0 0 0" xyz="0 0 0"/>
      <geometry>
        <mesh filename="package://tori_description/meshes/hip_z_x_l.stl" scale=".001 .001 .001"/>
        --&gt;
          
      </geometry>
    </collision>
    <inertial>
      <origin rpy="0 0 0" xyz="-.017570456 -.00347991 -.040112427"/>
      <mass value="0.121"/>
      <inertia ixx="0.000555078912" ixy="2.3186852e-05" ixz="0.000124676192" iyy="0.000702113536" iyz="-7.1674168e-05" izz="0.000281483904"/>
    </inertial>
  </link>
  <joint name="hip_l_x_servo_0_joint" type="fixed">
    <parent link="hip_l_z_x"/>
    <child link="hip_l_x_servo_0"/>
    <origin rpy="0 0 1.5707963267948966" xyz="-.050 0 -.090"/>
  </joint>
  <link name="hip_l_x_servo_0">
    <visual>
      <origin rpy="0 0 0" xyz="0 0 0"/>
      <geometry>
        <mesh filename="package://tori_description/meshes/servo.stl" scale=".001 .001 .001"/>
      </geometry>
      <material name="Black"/>
      <color rgba="0.0 0.0 0.0 0.0"/>
    </visual>
    <collision>
      <origin rpy="0 0 0" xyz="0 0 0"/>
      <geometry>
        <mesh filename="package://tori_description/meshes/servo.stl" scale=".001 .001 .001"/>
        --&gt;
          
      </geometry>
    </collision>
    <inertial>
      <origin rpy="0 0 0" xyz="0 0 0"/>
      <mass value="0.07"/>
      <inertia ixx="8.106666e-06" ixy="0.0" ixz="0.0" iyy="4.967866e-06" iyz="0.0" izz="4.967866e-06"/>
    </inertial>
  </link>
  <joint name="hip_l_x_servo_1_joint" type="fixed">
    <parent link="hip_l_z_x"/>
    <child link="hip_l_x_servo_1"/>
    <origin rpy="0 0 1.5707963267948966" xyz=".040 0 -.090"/>
  </joint>
  <link name="hip_l_x_servo_1">
    <visual>
      <origin rpy="0 0 0" xyz="0 0 0"/>
      <geometry>
        <mesh filename="package://tori_description/meshes/servo.stl" scale=".001 .001 .001"/>
      </geometry>
      <material name="Black"/>
      <color rgba="0.0 0.0 0.0 0.0"/>
    </visual>
    <collision>
      <origin rpy="0 0 0" xyz="0 0 0"/>
      <geometry>
        <mesh filename="package://tori_description/meshes/servo.stl" scale=".001 .001 .001"/>
        --&gt;
          
      </geometry>
    </collision>
    <inertial>
      <origin rpy="0 0 0" xyz="0 0 0"/>
      <mass value="0.07"/>
      <inertia ixx="8.106666e-06" ixy="0.0" ixz="0.0" iyy="4.967866e-06" iyz="0.0" izz="4.967866e-06"/>
    </inertial>
  </link>
  <joint name="hip_l_x" type="revolute">
    <parent link="hip_l_z_x"/>
    <child link="hip_l_x_y"/>
    <origin rpy="0 0 0" xyz="0 0 -0.1"/>
    <axis xyz="1 0 0"/>
    <dynamics damping="0"/>
    <limit effort="3.92" lower="0" upper="0.8" velocity="1.75"/>
  </joint>
  <link name="hip_l_x_y">
    <visual>
      <origin rpy="0 0 0" xyz="0 0 0"/>
      <geometry>
        <mesh filename="package://tori_description/meshes/hip_x_y_l.stl" scale=".001 .001 .001"/>
      </geometry>
      <material name="Black"/>
      <color rgba="0.0 0.0 0.0 0.0"/>
    </visual>
    <collision>
      <origin rpy="0 0 0" xyz="0 0 0"/>
      <geometry>
        <mesh filename="package://tori_description/meshes/hip_x_y_l.stl" scale=".001 .001 .001"/>
        --&gt;
          
      </geometry>
    </collision>
    <inertial>
      <origin rpy="0 0 0" xyz="-.001901933 .000002684 -.019281031"/>
      <mass value="0.057"/>
      <inertia ixx="9.0316016e-05" ixy="2.1078759770000002e-09" ixz="-2.91498925e-06" iyy="0.000127007568" iyz="6.5668232420000005e-09" izz="0.000164438"/>
    </inertial>
  </link>
  <joint name="hip_l_y" type="revolute">
    <parent link="hip_l_x_y"/>
    <child link="thigh_l"/>
    <origin rpy="0 0 0" xyz="0 0 -0.035"/>
    <axis xyz="0 -1 0"/>
    <dynamics damping="0"/>
    <limit effort="3.92" lower="-0.52" upper="0.78" velocity="1.75"/>
  </joint>
  <link name="thigh_l">
    <visual>
      <origin rpy="0 0 0" xyz="0 0 0"/>
      <geometry>
        <mesh filename="package://tori_description/meshes/thigh_l.stl" scale=".001 .001 .001"/>
      </geometry>
      <material name="Black"/>
      <color rgba="0.0 0.0 0.0 0.0"/>
    </visual>
    <collision>
      <origin rpy="0 0 0" xyz="0 0 0"/>
      <geometry>
        <mesh filename="package://tori_description/meshes/thigh_l_collision.stl" scale=".001 .001 .001"/>
      </geometry>
    </collision>
    <inertial>
      <origin rpy="0 0 0" xyz=".002060390 .006943429 -.137976913"/>
      <mass value="0.343"/>
      <inertia ixx="0.002766745088" ixy="3.52151125e-07" ixz="-7.977528e-06" iyy="0.002732864512" iyz="0.00045015801599999997" izz="0.002102034688"/>
    </inertial>
  </link>
  <joint name="hip_l_y_servo_0_joint" type="fixed">
    <parent link="thigh_l"/>
    <child link="hip_l_y_servo_0"/>
    <origin rpy="0 0 0" xyz="0 .035 -.011"/>
  </joint>
  <link name="hip_l_y_servo_0">
    <visual>
      <origin rpy="0 0 0" xyz="0 0 0"/>
      <geometry>
        <mesh filename="package://tori_description/meshes/servo.stl" scale=".001 .001 .001"/>
      </geometry>
      <material name="Black"/>
      <color rgba="0.0 0.0 0.0 0.0"/>
    </visual>
    <collision>
      <origin rpy="0 0 0" xyz="0 0 0"/>
      <geometry>
        <mesh filename="package://tori_description/meshes/servo.stl" scale=".001 .001 .001"/>
        --&gt;
          
      </geometry>
    </collision>
    <inertial>
      <origin rpy="0 0 0" xyz="0 0 0"/>
      <mass value="0.07"/>
      <inertia ixx="8.106666e-06" ixy="0.0" ixz="0.0" iyy="4.967866e-06" iyz="0.0" izz="4.967866e-06"/>
    </inertial>
  </link>
  <joint name="hip_l_y_servo_1_joint" type="fixed">
    <parent link="thigh_l"/>
    <child link="hip_l_y_servo_1"/>
    <origin rpy="0 0 0" xyz="0 -.035 -.011"/>
  </joint>
  <link name="hip_l_y_servo_1">
    <visual>
      <origin rpy="0 0 0" xyz="0 0 0"/>
      <geometry>
        <mesh filename="package://tori_description/meshes/servo.stl" scale=".001 .001 .001"/>
      </geometry>
      <material name="Black"/>
      <color rgba="0.0 0.0 0.0 0.0"/>
    </visual>
    <collision>
      <origin rpy="0 0 0" xyz="0 0 0"/>
      <geometry>
        <mesh filename="package://tori_description/meshes/servo.stl" scale=".001 .001 .001"/>
        --&gt;
          
      </geometry>
    </collision>
    <inertial>
      <origin rpy="0 0 0" xyz="0 0 0"/>
      <mass value="0.07"/>
      <inertia ixx="8.106666e-06" ixy="0.0" ixz="0.0" iyy="4.967866e-06" iyz="0.0" izz="4.967866e-06"/>
    </inertial>
  </link>
  <joint name="knee_l_servo_0_joint" type="fixed">
    <parent link="thigh_l"/>
    <child link="knee_l_servo_0"/>
    <origin rpy="0 0 1.5707963267948966" xyz="-.030 0 -.190"/>
  </joint>
  <link name="knee_l_servo_0">
    <visual>
      <origin rpy="0 0 0" xyz="0 0 0"/>
      <geometry>
        <mesh filename="package://tori_description/meshes/servo.stl" scale=".001 .001 .001"/>
      </geometry>
      <material name="Black"/>
      <color rgba="0.0 0.0 0.0 0.0"/>
    </visual>
    <collision>
      <origin rpy="0 0 0" xyz="0 0 0"/>
      <geometry>
        <mesh filename="package://tori_description/meshes/servo.stl" scale=".001 .001 .001"/>
        --&gt;
          
      </geometry>
    </collision>
    <inertial>
      <origin rpy="0 0 0" xyz="0 0 0"/>
      <mass value="0.064"/>
      <inertia ixx="8.106666e-06" ixy="0.0" ixz="0.0" iyy="4.967866e-06" iyz="0.0" izz="4.967866e-06"/>
    </inertial>
  </link>
  <joint name="knee_l_servo_1_joint" type="fixed">
    <parent link="thigh_l"/>
    <child link="knee_l_servo_1"/>
    <origin rpy="0 0 1.5707963267948966" xyz=".030 0 -.190"/>
  </joint>
  <link name="knee_l_servo_1">
    <visual>
      <origin rpy="0 0 0" xyz="0 0 0"/>
      <geometry>
        <mesh filename="package://tori_description/meshes/servo.stl" scale=".001 .001 .001"/>
      </geometry>
      <material name="Black"/>
      <color rgba="0.0 0.0 0.0 0.0"/>
    </visual>
    <collision>
      <origin rpy="0 0 0" xyz="0 0 0"/>
      <geometry>
        <mesh filename="package://tori_description/meshes/servo.stl" scale=".001 .001 .001"/>
        --&gt;
          
      </geometry>
    </collision>
    <inertial>
      <origin rpy="0 0 0" xyz="0 0 0"/>
      <mass value="0.064"/>
      <inertia ixx="8.106666e-06" ixy="0.0" ixz="0.0" iyy="4.967866e-06" iyz="0.0" izz="4.967866e-06"/>
    </inertial>
  </link>
  <joint name="knee_l" type="revolute">
    <parent link="thigh_l"/>
    <child link="calf_l"/>
    <origin rpy="0 0 0" xyz="0 0 -0.198"/>
    <axis xyz="1 0 0"/>
    <dynamics damping="0"/>
    <limit effort="3.92" lower="-1.57" upper="0" velocity="1.97"/>
  </joint>
  <link name="calf_l">
    <visual>
      <origin rpy="0 0 0" xyz="0 0 0"/>
      <geometry>
        <mesh filename="package://tori_description/meshes/calf_l.stl" scale=".001 .001 .001"/>
      </geometry>
      <material name="1.0 1.0 1.0 1.0"/>
    </visual>
    <collision>
      <origin rpy="0 0 0" xyz="0 0 0"/>
      <geometry>
        <mesh filename="package://tori_description/meshes/calf_l_collision.stl" scale=".001 .001 .001"/>
      </geometry>
    </collision>
    <inertial>
      <origin rpy="0 0 0" xyz=".000008944 .001660231 -.123774109"/>
      <mass value="0.41"/>
      <inertia ixx="0.00419529856" ixy="4.3672153125e-07" ixz="9.741644375e-07" iyy="0.004510084608" iyz="6.263556799999999e-05" izz="0.003256341504"/>
    </inertial>
  </link>
  <joint name="ankle_l_servo_0_joint" type="fixed">
    <parent link="calf_l"/>
    <child link="ankle_l_servo_0"/>
    <origin rpy="0 0 1.5707963267948966" xyz="-.045 0 -.211"/>
  </joint>
  <link name="ankle_l_servo_0">
    <visual>
      <origin rpy="0 0 0" xyz="0 0 0"/>
      <geometry>
        <mesh filename="package://tori_description/meshes/servo.stl" scale=".001 .001 .001"/>
      </geometry>
      <material name="Black"/>
      <color rgba="0.0 0.0 0.0 0.0"/>
    </visual>
    <collision>
      <origin rpy="0 0 0" xyz="0 0 0"/>
      <geometry>
        <mesh filename="package://tori_description/meshes/servo.stl" scale=".001 .001 .001"/>
        --&gt;
          
      </geometry>
    </collision>
    <inertial>
      <origin rpy="0 0 0" xyz="0 0 0"/>
      <mass value="0.07"/>
      <inertia ixx="8.106666e-06" ixy="0.0" ixz="0.0" iyy="4.967866e-06" iyz="0.0" izz="4.967866e-06"/>
    </inertial>
  </link>
  <joint name="ankle_l_servo_1_joint" type="fixed">
    <parent link="calf_l"/>
    <child link="ankle_l_servo_1"/>
    <origin rpy="0 0 1.5707963267948966" xyz=".045 0 -.211"/>
  </joint>
  <link name="ankle_l_servo_1">
    <visual>
      <origin rpy="0 0 0" xyz="0 0 0"/>
      <geometry>
        <mesh filename="package://tori_description/meshes/servo.stl" scale=".001 .001 .001"/>
      </geometry>
      <material name="Black"/>
      <color rgba="0.0 0.0 0.0 0.0"/>
    </visual>
    <collision>
      <origin rpy="0 0 0" xyz="0 0 0"/>
      <geometry>
        <mesh filename="package://tori_description/meshes/servo.stl" scale=".001 .001 .001"/>
        --&gt;
          
      </geometry>
    </collision>
    <inertial>
      <origin rpy="0 0 0" xyz="0 0 0"/>
      <mass value="0.07"/>
      <inertia ixx="8.106666e-06" ixy="0.0" ixz="0.0" iyy="4.967866e-06" iyz="0.0" izz="4.967866e-06"/>
    </inertial>
  </link>
  <joint name="ankle_l_x" type="revolute">
    <parent link="calf_l"/>
    <child link="ankle_l"/>
    <origin rpy="0 0 0" xyz="0 0 -0.222"/>
    <axis xyz="1 0 0"/>
    <dynamics damping="0"/>
    <limit effort="3.92" lower="-0.52" upper="0.8" velocity="1.75"/>
  </joint>
  <link name="ankle_l">
    <visual>
      <origin rpy="0 0 0" xyz="0 0 0"/>
      <geometry>
        <mesh filename="package://tori_description/meshes/ankle_l_collision.stl" scale=".001 .001 .001"/>
      </geometry>
      <material name="Black"/>
      <color rgba="0.0 0.0 0.0 0.0"/>
    </visual>
    <collision>
      <origin rpy="0 0 0" xyz="0 0 0"/>
      <geometry>
        <mesh filename="package://tori_description/meshes/ankle_l_collision.stl" scale=".001 .001 .001"/>
      </geometry>
    </collision>
    <inertial>
      <origin rpy="0 0 0" xyz=".000628665 .000016178 -.043992519"/>
      <mass value="0.058"/>
      <inertia ixx="0.00012381117599999999" ixy="1.080197144e-09" ixz="-1.9812340625e-07" iyy="0.00012761047999999999" iyz="3.316434375e-08" izz="0.00022420292799999998"/>
    </inertial>
  </link>
  <joint name="ankle_l_y" type="revolute">
    <parent link="ankle_l"/>
    <child link="foot_l"/>
    <origin rpy="0 0 0" xyz="0 0 -0.095"/>
    <axis xyz="0 -1 0"/>
    <dynamics damping="0"/>
    <limit effort="3.92" lower="-0.52" upper="0.52" velocity="1.75"/>
  </joint>
  <link name="foot_l">
    <collision>
      <origin rpy="0 0 0" xyz="0 0 0"/>
      <geometry>
        <mesh filename="package://tori_description/meshes/foot_l_collision.stl" scale=".001 .001 .001"/>
        --&gt;
          
      </geometry>
      <!--<contact_coefficient mu="10"  resitution="1"  k_p="1000000"  k_d="100" />-->
    </collision>
    <visual>
      <origin rpy="0 0 0" xyz="0 0 0"/>
      <geometry>
        <mesh filename="package://tori_description/meshes/foot_l_collision.stl" scale=".001 .001 .001"/>
        --&gt;
          
      </geometry>
      <material name="1.0 0.0 0.0 1.0"/>
    </visual>
    <inertial>
      <origin rpy="0 0 0" xyz=".003465025 .004649493 -.042715496"/>
      <mass value="0.246"/>
      <inertia ixx="0.001278722816" ixy="-3.585326e-06" ixz="1.5627451e-05" iyy="0.0008087948159999999" iyz="-2.270335e-05" izz="0.001933839488"/>
    </inertial>
  </link>
  <gazebo reference="foot_l">
    <selfCollide>true</selfCollide>
    <maxContacts>10</maxContacts>
    <minDepth>0.00</minDepth>
    <maxVel>1.00</maxVel>
    <kp>1000000.0</kp>
    <kd>100.0</kd>
    <collision name="foot_l_collision">
      <geometry>
        <mesh filename="package://tori_description/meshes/foot_l_collision.stl" scale=".001 .001 .001"/>
        --&gt;
          
      </geometry>
      <surface>
        <!--<kp>1000000.0</kp>
            <kd>100.0</kd>
            <mu1>1.5</mu1>
            <mu2>1.5</mu2>
            <fdir1>1 0 0</fdir1>
            <maxVel>1.0</maxVel>
            <minDepth>0.00</minDepth>-->
        <friction>
          <ode>
            <mu>9.98500</mu>
            <mu2>9.98500</mu2>
            <fdir1>1.000000 0.000000 0.000000</fdir1>
            <slip1>0.000000</slip1>
            <slip2>0.000000</slip2>
            <!--<kp>1000000.0</kp>
                <kd>100.0</kd>-->
          </ode>
          <!--<contact>
                <poissons_ratio>0.5</poissons_ratio>
                <elastic_modulus>1e8</elastic_modulus>
              </contact>
              <mu>10.00</mu>
              <mu2>10.00</mu2>-->
          <torsional>
            <coefficient>500</coefficient>
            <use_patch_radius>true</use_patch_radius>
            <surface_radius>5</surface_radius>
            <patch_radius>1</patch_radius>
          </torsional>
        </friction>
      </surface>
    </collision>
  </gazebo>
  <joint name="ankle_r_y" type="revolute">
    <parent link="ankle_r"/>
    <child link="foot_r"/>
    <origin rpy="0 0 0" xyz="0 0 -0.095"/>
    <axis xyz="0 1 0"/>
    <dynamics damping="0"/>
    <limit effort="3.92" lower="-0.52" upper="0.52" velocity="1.75"/>
  </joint>
  <link name="foot_r">
    <visual>
      <origin rpy="0 0 0" xyz="0 0 0"/>
      <geometry>
        <mesh filename="package://tori_description/meshes/foot_r_collision.stl" scale=".001 .001 .001"/>
        --&gt;
          
      </geometry>
      <material name="1.0 0.0 0.0 1.0"/>
    </visual>
    <collision>
      <origin rpy="0 0 0" xyz="0 0 0"/>
      <geometry>
        <mesh filename="package://tori_description/meshes/foot_r_collision.stl" scale=".001 .001 .001"/>
        --&gt;
          
      </geometry>
      <!--<contact_coefficient mu="100"  resitution="0"  k_p="0"  k_d="0" />-->
    </collision>
    <inertial>
      <origin rpy="0 0 0" xyz="-.003453289 .004650488 -.042721497"/>
      <mass value="0.246"/>
      <inertia ixx="0.001278494208" ixy="3.57941875e-06" ixz="-1.5607733e-05" iyy="0.0008086602879999999" iyz="-2.2713808e-05" izz="0.001933690624"/>
    </inertial>
  </link>
  <gazebo reference="foot_r">
    <selfCollide>true</selfCollide>
    <maxContacts>10</maxContacts>
    <minDepth>0.00</minDepth>
    <maxVel>1.00</maxVel>
    <kp>1000000.0</kp>
    <kd>100.0</kd>
    <collision name="foot_r_collision">
      <geometry>
        <mesh filename="package://tori_description/meshes/foot_r_collision.stl" scale=".001 .001 .001"/>
        --&gt;
          
      </geometry>
      <surface>
        <!--<kp>1000000.0</kp>
            <kd>100.0</kd>
            <mu1>1.5</mu1>
            <mu2>1.5</mu2>
            <fdir1>1 0 0</fdir1>
            <maxVel>1.0</maxVel>
            <minDepth>0.00</minDepth>-->
        <friction>
          <ode>
            <mu>9.98500</mu>
            <mu2>9.98500</mu2>
            <fdir1>1.000000 0.000000 0.000000</fdir1>
            <slip1>0.000000</slip1>
            <slip2>0.000000</slip2>
            <!--<kp>1000000.0</kp>
                <kd>100.0</kd>-->
          </ode>
          <!--<contact>
                <poissons_ratio>0.5</poissons_ratio>
                <elastic_modulus>1e8</elastic_modulus>
              </contact>
              <mu>10.00</mu>
              <mu2>10.00</mu2>-->
          <torsional>
            <coefficient>500</coefficient>
            <use_patch_radius>true</use_patch_radius>
            <surface_radius>5</surface_radius>
            <patch_radius>1</patch_radius>
          </torsional>
        </friction>
      </surface>
    </collision>
  </gazebo>
  <joint name="foot_l_servo_0_joint" type="fixed">
    <parent link="foot_l"/>
    <child link="foot_l_servo_0"/>
    <origin rpy="0 0 0" xyz="0 .045 -.012"/>
  </joint>
  <link name="foot_l_servo_0">
    <visual>
      <origin rpy="0 0 0" xyz="0 0 0"/>
      <geometry>
        <mesh filename="package://tori_description/meshes/servo.stl" scale=".001 .001 .001"/>
      </geometry>
      <material name="Black"/>
      <color rgba="0.0 0.0 0.0 0.0"/>
    </visual>
    <collision>
      <origin rpy="0 0 0" xyz="0 0 0"/>
      <geometry>
        <mesh filename="package://tori_description/meshes/servo.stl" scale=".001 .001 .001"/>
        --&gt;
          
      </geometry>
    </collision>
    <inertial>
      <origin rpy="0 0 0" xyz="0 0 0"/>
      <mass value="0.07"/>
      <inertia ixx="8.106666e-06" ixy="0.0" ixz="0.0" iyy="4.967866e-06" iyz="0.0" izz="4.967866e-06"/>
    </inertial>
  </link>
  <joint name="foot_l_servo_1_joint" type="fixed">
    <parent link="foot_l"/>
    <child link="foot_l_servo_1"/>
    <origin rpy="0 0 0" xyz="0 -.045 -.012"/>
  </joint>
  <link name="foot_l_servo_1">
    <collision>
      <origin rpy="0 0 0" xyz="0 0 0"/>
      <geometry>
        <mesh filename="package://tori_description/meshes/servo.stl" scale=".001 .001 .001"/>
        --&gt;
          
      </geometry>
    </collision>
    <visual>
      <origin rpy="0 0 0" xyz="0 0 0"/>
      <geometry>
        <mesh filename="package://tori_description/meshes/servo.stl" scale=".001 .001 .001"/>
      </geometry>
      <material name="Black"/>
      <color rgba="0.0 0.0 0.0 0.0"/>
    </visual>
    <inertial>
      <origin rpy="0 0 0" xyz="0 0 0"/>
      <mass value="0.07"/>
      <inertia ixx="8.106666e-06" ixy="0.0" ixz="0.0" iyy="4.967866e-06" iyz="0.0" izz="4.967866e-06"/>
    </inertial>
  </link>
  <!--
      <joint name="${prefix}ball_joint_l" type="revolute">
        <parent link="${prefix}foot_l"/>
        <child link="${prefix}ball_l"/>
        <origin xyz="0 .1 -.02" rpy="0 0 0"/>
        <axis xyz="1 0 0"/>
        <dynamics damping="${damping}"/>
        <limit lower="${lower_limit_ball}" upper="${upper_limit_ball}" effort="${effort_ball}" velocity="${joint_velocity}"/>
    </joint>
      <link name="${prefix}ball_l">
        <collision>
          <origin xyz="0 .025 0" rpy="0 0 0"/>
          <geometry>
            <box size="0.08 0.05 0.02"/>
          </geometry>
        </collision>
        <visual>
          <origin xyz="0 .025 0" rpy="0 0 0"/>
          <geometry>
      <box size="0.08 0.05 0.02"/>
          </geometry>
          <material name="${Red}"/>
        </visual>
        <xacro:box_inertial height=".02" width=".11" depth=".08" mass="${mass_ball}" pos="0 .025 0" ang="0 0 0">
        </xacro:box_inertial>
      </link>-->
  <!--
    <transmission name="shoulder_l_x_trans">
      <type>transmission_interface/SimpleTransmission</type>
      <joint name="shoulder_l_x">
        <hardwareInterface>${hw_interface}</hardwareInterface>
      </joint>
      <actuator name="shoulder_l_x_motor">
        <mechanicalReduction>1</mechanicalReduction>
      </actuator>
    </transmission>

    <transmission name="shoulder_l_y_trans">
      <type>transmission_interface/SimpleTransmission</type>
      <joint name="shoulder_l_y">
        <hardwareInterface>${hw_interface}</hardwareInterface>
      </joint>
      <actuator name="shoulder_l_y_motor">
        <mechanicalReduction>1</mechanicalReduction>
      </actuator>
    </transmission>

    <transmission name="${prefix}shoulder_l_z_trans">
      <type>transmission_interface/SimpleTransmission</type>
      <joint name="${prefix}shoulder_l_z">
        <hardwareInterface>${hw_interface}</hardwareInterface>
      </joint>
      <actuator name="${prefix}shoulder_l_z_motor">
        <mechanicalReduction>1</mechanicalReduction>
      </actuator>
    </transmission>

    <transmission name="${prefix}elbow_l_z_trans">
      <type>transmission_interface/SimpleTransmission</type>
      <joint name="${prefix}elbow_l_z">
        <hardwareInterface>${hw_interface}</hardwareInterface>
      </joint>
      <actuator name="${prefix}elbow_l_z_motor">
        <mechanicalReduction>1</mechanicalReduction>
      </actuator>
    </transmission>

    <transmission name="${prefix}elbow_l_x_trans">
      <type>transmission_interface/SimpleTransmission</type>
      <joint name="${prefix}elbow_l_x">
        <hardwareInterface>${hw_interface}</hardwareInterface>
      </joint>
      <actuator name="${prefix}elbow_l_x_motor">
        <mechanicalReduction>1</mechanicalReduction>
      </actuator>
    </transmission>

    <transmission name="${prefix}wrist_l_z_trans">
      <type>transmission_interface/SimpleTransmission</type>
      <joint name="${prefix}wrist_l_z">
        <hardwareInterface>${hw_interface}</hardwareInterface>
      </joint>
      <actuator name="${prefix}wrist_l_z_motor">
        <mechanicalReduction>1</mechanicalReduction>
      </actuator>
    </transmission>

    <transmission name="${prefix}wrist_l_y_trans">
      <type>transmission_interface/SimpleTransmission</type>
      <joint name="${prefix}wrist_l_y">
        <hardwareInterface>${hw_interface}</hardwareInterface>
      </joint>
      <actuator name="${prefix}wrist_l_y_motor">
        <mechanicalReduction>1</mechanicalReduction>
      </actuator>
    </transmission>

    <transmission name="${prefix}shoulder_r_x_trans">
      <type>transmission_interface/SimpleTransmission</type>
      <joint name="${prefix}shoulder_r_x">
        <hardwareInterface>${hw_interface}</hardwareInterface>
      </joint>
      <actuator name="${prefix}shoulder_r_x_motor">
        <mechanicalReduction>1</mechanicalReduction>
      </actuator>
    </transmission>

    <transmission name="${prefix}shoulder_r_y_trans">
      <type>transmission_interface/SimpleTransmission</type>
      <joint name="${prefix}shoulder_r_y">
        <hardwareInterface>${hw_interface}</hardwareInterface>
      </joint>
      <actuator name="${prefix}shoulder_r_y_motor">
        <mechanicalReduction>1</mechanicalReduction>
      </actuator>
    </transmission>

    <transmission name="${prefix}shoulder_r_z_trans">
      <type>transmission_interface/SimpleTransmission</type>
      <joint name="${prefix}shoulder_r_z">
        <hardwareInterface>${hw_interface}</hardwareInterface>
      </joint>
      <actuator name="${prefix}shoulder_r_z_motor">
        <mechanicalReduction>1</mechanicalReduction>
      </actuator>
    </transmission>

    <transmission name="${prefix}elbow_r_z_trans">
      <type>transmission_interface/SimpleTransmission</type>
      <joint name="${prefix}elbow_r_z">
        <hardwareInterface>${hw_interface}</hardwareInterface>
      </joint>
      <actuator name="${prefix}elbow_r_z_motor">
        <mechanicalReduction>1</mechanicalReduction>
      </actuator>
    </transmission>

    <transmission name="${prefix}elbow_r_x_trans">
      <type>transmission_interface/SimpleTransmission</type>
      <joint name="${prefix}elbow_r_x">
        <hardwareInterface>${hw_interface}</hardwareInterface>
      </joint>
      <actuator name="${prefix}elbow_r_x_motor">
        <mechanicalReduction>1</mechanicalReduction>
      </actuator>
    </transmission>

    <transmission name="${prefix}wrist_r_z_trans">
      <type>transmission_interface/SimpleTransmission</type>
      <joint name="${prefix}wrist_r_z">
        <hardwareInterface>${hw_interface}</hardwareInterface>
      </joint>
      <actuator name="${prefix}wrist_r_z_motor">
        <mechanicalReduction>1</mechanicalReduction>
      </actuator>
    </transmission>

    <transmission name="${prefix}wrist_r_y_trans">
      <type>transmission_interface/SimpleTransmission</type>
      <joint name="${prefix}wrist_r_y">
        <hardwareInterface>${hw_interface}</hardwareInterface>
      </joint>
      <actuator name="${prefix}wrist_r_y_motor">
        <mechanicalReduction>1</mechanicalReduction>
      </actuator>
    </transmission>
-->
  <transmission name="hip_l_x_trans">
    <type>transmission_interface/SimpleTransmission</type>
    <joint name="hip_l_x">
      <hardwareInterface>hardware_interface/PositionJointInterface</hardwareInterface>
    </joint>
    <actuator name="hip_l_x_motor">
      <mechanicalReduction>1</mechanicalReduction>
    </actuator>
  </transmission>
  <transmission name="hip_l_y_trans">
    <type>transmission_interface/SimpleTransmission</type>
    <joint name="hip_l_y">
      <hardwareInterface>hardware_interface/PositionJointInterface</hardwareInterface>
    </joint>
    <actuator name="hip_l_y_motor">
      <mechanicalReduction>1</mechanicalReduction>
    </actuator>
  </transmission>
  <transmission name="hip_l_z_trans">
    <type>transmission_interface/SimpleTransmission</type>
    <joint name="hip_l_z">
      <hardwareInterface>hardware_interface/PositionJointInterface</hardwareInterface>
    </joint>
    <actuator name="hip_l_z_motor">
      <mechanicalReduction>1</mechanicalReduction>
    </actuator>
  </transmission>
  <transmission name="knee_l_trans">
    <type>transmission_interface/SimpleTransmission</type>
    <joint name="knee_l">
      <hardwareInterface>hardware_interface/PositionJointInterface</hardwareInterface>
    </joint>
    <actuator name="knee_l_motor">
      <mechanicalReduction>1</mechanicalReduction>
    </actuator>
  </transmission>
  <transmission name="ankle_l_x_trans">
    <type>transmission_interface/SimpleTransmission</type>
    <joint name="ankle_l_x">
      <hardwareInterface>hardware_interface/PositionJointInterface</hardwareInterface>
    </joint>
    <actuator name="ankle_l_x_motor">
      <mechanicalReduction>1</mechanicalReduction>
    </actuator>
  </transmission>
  <transmission name="ankle_l_y_trans">
    <type>transmission_interface/SimpleTransmission</type>
    <joint name="ankle_l_y">
      <hardwareInterface>hardware_interface/PositionJointInterface</hardwareInterface>
    </joint>
    <actuator name="ankle_l_y_motor">
      <mechanicalReduction>1</mechanicalReduction>
    </actuator>
  </transmission>
  <transmission name="hip_r_x_trans">
    <type>transmission_interface/SimpleTransmission</type>
    <joint name="hip_r_x">
      <hardwareInterface>hardware_interface/PositionJointInterface</hardwareInterface>
    </joint>
    <actuator name="hip_r_x_motor">
      <mechanicalReduction>1</mechanicalReduction>
    </actuator>
  </transmission>
  <transmission name="hip_r_y_trans">
    <type>transmission_interface/SimpleTransmission</type>
    <joint name="hip_r_y">
      <hardwareInterface>hardware_interface/PositionJointInterface</hardwareInterface>
    </joint>
    <actuator name="hip_r_y_motor">
      <mechanicalReduction>1</mechanicalReduction>
    </actuator>
  </transmission>
  <transmission name="hip_r_z_trans">
    <type>transmission_interface/SimpleTransmission</type>
    <joint name="hip_r_z">
      <hardwareInterface>hardware_interface/PositionJointInterface</hardwareInterface>
    </joint>
    <actuator name="hip_r_z_motor">
      <mechanicalReduction>1</mechanicalReduction>
    </actuator>
  </transmission>
  <transmission name="knee_r_trans">
    <type>transmission_interface/SimpleTransmission</type>
    <joint name="knee_r">
      <hardwareInterface>hardware_interface/PositionJointInterface</hardwareInterface>
    </joint>
    <actuator name="knee_r_motor">
      <mechanicalReduction>1</mechanicalReduction>
    </actuator>
  </transmission>
  <transmission name="ankle_r_x_trans">
    <type>transmission_interface/SimpleTransmission</type>
    <joint name="ankle_r_x">
      <hardwareInterface>hardware_interface/PositionJointInterface</hardwareInterface>
    </joint>
    <actuator name="ankle_r_x_motor">
      <mechanicalReduction>1</mechanicalReduction>
    </actuator>
  </transmission>
  <transmission name="ankle_r_y_trans">
    <type>transmission_interface/SimpleTransmission</type>
    <joint name="ankle_r_y">
      <hardwareInterface>hardware_interface/PositionJointInterface</hardwareInterface>
    </joint>
    <actuator name="ankle_r_y_motor">
      <mechanicalReduction>1</mechanicalReduction>
    </actuator>
  </transmission>
  <transmission name="spine_x_trans">
    <type>transmission_interface/SimpleTransmission</type>
    <joint name="spine_x">
      <hardwareInterface>hardware_interface/PositionJointInterface</hardwareInterface>
    </joint>
    <actuator name="spine_x_motor">
      <mechanicalReduction>1</mechanicalReduction>
    </actuator>
  </transmission>
  <transmission name="spine_y_trans">
    <type>transmission_interface/SimpleTransmission</type>
    <joint name="spine_y">
      <hardwareInterface>hardware_interface/PositionJointInterface</hardwareInterface>
    </joint>
    <actuator name="spine_y_motor">
      <mechanicalReduction>1</mechanicalReduction>
    </actuator>
  </transmission>
  <transmission name="spine_z_trans">
    <type>transmission_interface/SimpleTransmission</type>
    <joint name="spine_z">
      <hardwareInterface>hardware_interface/PositionJointInterface</hardwareInterface>
    </joint>
    <actuator name="spine_z_motor">
      <mechanicalReduction>1</mechanicalReduction>
    </actuator>
  </transmission>
  <!--<transmission name="${prefix}ball_joint_l_trans">
      <type>transmission_interface/SimpleTransmission</type>
      <joint name="${prefix}ball_joint_l">
        <hardwareInterface>${hw_interface}</hardwareInterface>
      </joint>
      <actuator name="${prefix}ball_joint_l_motor">
        <mechanicalReduction>1</mechanicalReduction>
      </actuator>
    </transmission>

    <transmission name="${prefix}ball_joint_r_trans">
      <type>transmission_interface/SimpleTransmission</type>
      <joint name="${prefix}ball_joint_r">
        <hardwareInterface>${hw_interface}</hardwareInterface>
      </joint>
      <actuator name="${prefix}ball_joint_r_motor">
        <mechanicalReduction>1</mechanicalReduction>
      </actuator>
    </transmission>-->
  <gazebo reference="pelvis">
    <selfCollide>1</selfCollide>
    <implicitSpringDamper>True</implicitSpringDamper>
  </gazebo>
  <!--
    <gazebo reference="shoulder_l0">
      <selfCollide>False</selfCollide>
      <implicitSpringDamper>True</implicitSpringDamper>
    </gazebo>

    <gazebo reference="shoulder_l1">
      <selfCollide>False</selfCollide>
      <implicitSpringDamper>True</implicitSpringDamper>
    </gazebo>

    <gazebo reference="arm_l">
      <selfCollide>True</selfCollide>
    </gazebo>

    <gazebo reference="forearm_l">
      <selfCollide>False</selfCollide>
    </gazebo>
    <gazebo reference="wrist_l0">
      <selfCollide>True</selfCollide>
    </gazebo>
    <gazebo reference="wrist_l1">
      <selfCollide>False</selfCollide>
    </gazebo>
    <gazebo reference="hand_l">
      <selfCollide>True</selfCollide>
    </gazebo>

    <gazebo reference="${prefix}shoulder_r0">
      <selfCollide>False</selfCollide>
    </gazebo>
    <gazebo reference="${prefix}shoulder_r1">
      <selfCollide>False</selfCollide>
    </gazebo>
    <gazebo reference="${prefix}arm_r">
      <selfCollide>true</selfCollide>
    </gazebo>
    <gazebo reference="${prefix}forearm_r">
      <selfCollide>False</selfCollide>
    </gazebo>
    <gazebo reference="${prefix}wrist_r0">
      <selfCollide>true</selfCollide>
    </gazebo>
    <gazebo reference="${prefix}wrist_r1">
      <selfCollide>False</selfCollide>
    </gazebo>
    <gazebo reference="${prefix}hand_r">
      <selfCollide>true</selfCollide>
    </gazebo>
-->
  <gazebo reference="hip_l_z_x">
    <selfCollide>true</selfCollide>
  </gazebo>
  <gazebo reference="hip_l_x_y">
    <selfCollide>true</selfCollide>
  </gazebo>
  <gazebo reference="thigh_l">
    <selfCollide>true</selfCollide>
  </gazebo>
  <gazebo reference="shin_l">
    <selfCollide>true</selfCollide>
  </gazebo>
  <gazebo reference="ankle_l">
    <selfCollide>true</selfCollide>
  </gazebo>
  <gazebo reference="hip_r_z_x">
    <selfCollide>true</selfCollide>
  </gazebo>
  <gazebo reference="hip_r_x_y">
    <selfCollide>true</selfCollide>
  </gazebo>
  <gazebo reference="thigh_r">
    <selfCollide>true</selfCollide>
  </gazebo>
  <gazebo reference="shin_r">
    <selfCollide>true</selfCollide>
  </gazebo>
  <gazebo reference="ankle_r">
    <selfCollide>true</selfCollide>
  </gazebo>
  <gazebo reference="torso_lower">
    <selfCollide>1</selfCollide>
    <implicitSpringDamper>True</implicitSpringDamper>
  </gazebo>
  <gazebo reference="torso_mid">
    <selfCollide>1</selfCollide>
    <implicitSpringDamper>True</implicitSpringDamper>
  </gazebo>
  <gazebo reference="torso_upper">
    <selfCollide>True</selfCollide>
    <implicitSpringDamper>True</implicitSpringDamper>
  </gazebo>
  <!--  <link name="world" />

  <joint name="world_joint" type="fixed">
    <parent link="world" />
    <child link = "base_link" />
    <origin xyz="0.0 0.0 0.0" rpy="0.0 0.0 0.0" />
  </joint>
-->
</robot>
